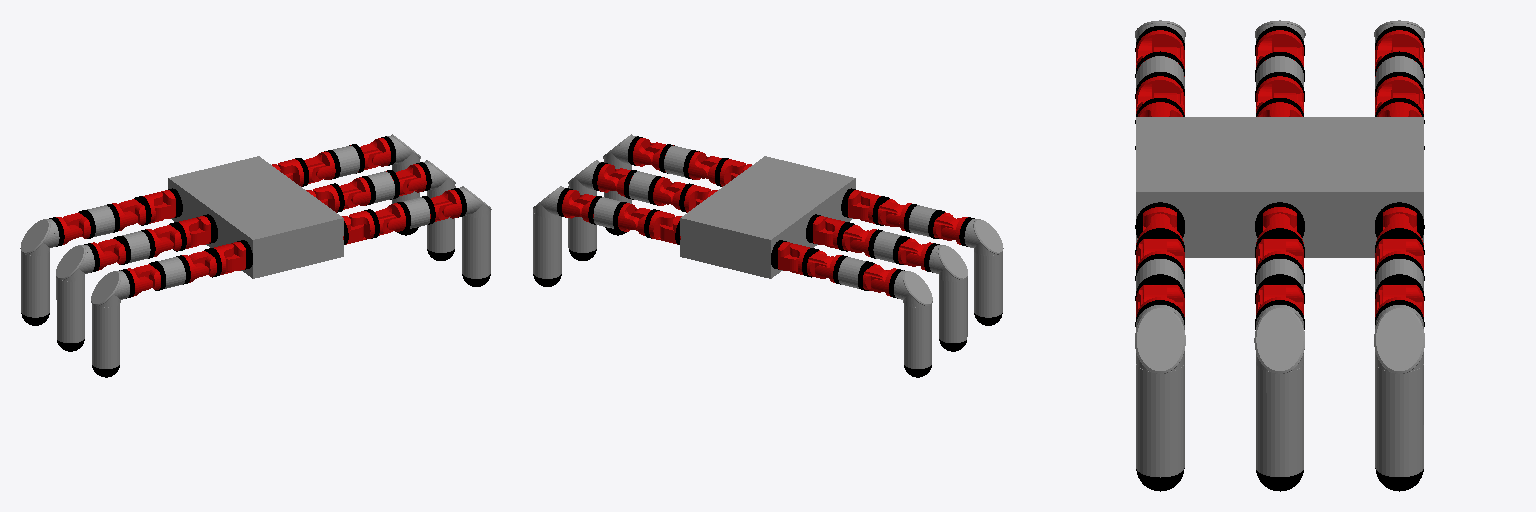
--- Facts derived from the render (not from the file) ---
The picture shows the robot from 3 angles, left to right: view 1: azimuth 30°, elevation 25°; view 2: azimuth 150°, elevation 25°; view 3: azimuth 270°, elevation 25°; orthographic projection.
Robot: snake_monster — 91 links, 90 joints (18 revolute, 72 fixed); root link base; default pose: every joint at zero.
Links seen in each view (by area): view 1: base, elbow__leg6__AFTER_CORNER_BODY, elbow__leg3__AFTER_CORNER_BODY, elbow__leg5__AFTER_CORNER_BODY, elbow__leg4__AFTER_CORNER_BODY, elbow__leg4__INPUT_INTERFACE, elbow__leg5__INPUT_INTERFACE, elbow__leg6__INPUT_INTERFACE, elbow__leg2__AFTER_CORNER_BODY, extender__leg4__INPUT_INTERFACE, extender__leg6__INPUT_INTERFACE, extender__leg5__INPUT_INTERFACE (+3 smaller); view 2: base, elbow__leg4__AFTER_CORNER_BODY, elbow__leg5__AFTER_CORNER_BODY, elbow__leg1__AFTER_CORNER_BODY, elbow__leg6__AFTER_CORNER_BODY, elbow__leg5__INPUT_INTERFACE, elbow__leg4__INPUT_INTERFACE, elbow__leg6__INPUT_INTERFACE, elbow__leg2__AFTER_CORNER_BODY, extender__leg6__INPUT_INTERFACE, extender__leg4__INPUT_INTERFACE, extender__leg5__INPUT_INTERFACE (+3 smaller); view 3: base, elbow__leg3__AFTER_CORNER_BODY, elbow__leg1__AFTER_CORNER_BODY, elbow__leg2__AFTER_CORNER_BODY, elbow__leg1__INPUT_INTERFACE, elbow__leg3__INPUT_INTERFACE, elbow__leg2__INPUT_INTERFACE, SA005__MoJo__OUTPUT_BODY, SA031__MoJo__OUTPUT_BODY, SA050__MoJo__OUTPUT_BODY, SA001__MoJo__OUTPUT_BODY, SA048__MoJo__OUTPUT_BODY (+16 smaller).
Boxes of the visible links, x1=… form: base: x1=168, y1=156, x2=343, y2=278; elbow__leg6__AFTER_CORNER_BODY: x1=21, y1=252, x2=49, y2=317; elbow__leg3__AFTER_CORNER_BODY: x1=462, y1=212, x2=490, y2=278; elbow__leg5__AFTER_CORNER_BODY: x1=56, y1=278, x2=84, y2=342; elbow__leg4__AFTER_CORNER_BODY: x1=92, y1=304, x2=119, y2=368; elbow__leg4__INPUT_INTERFACE: x1=91, y1=270, x2=129, y2=307; elbow__leg5__INPUT_INTERFACE: x1=56, y1=245, x2=94, y2=281; elbow__leg6__INPUT_INTERFACE: x1=20, y1=219, x2=59, y2=255; elbow__leg2__AFTER_CORNER_BODY: x1=427, y1=186, x2=455, y2=252; extender__leg4__INPUT_INTERFACE: x1=158, y1=257, x2=185, y2=288; extender__leg6__INPUT_INTERFACE: x1=87, y1=205, x2=114, y2=236; extender__leg5__INPUT_INTERFACE: x1=122, y1=231, x2=150, y2=262; base: x1=680, y1=156, x2=855, y2=278; elbow__leg4__AFTER_CORNER_BODY: x1=974, y1=252, x2=1002, y2=317; elbow__leg5__AFTER_CORNER_BODY: x1=939, y1=278, x2=967, y2=342; elbow__leg1__AFTER_CORNER_BODY: x1=533, y1=212, x2=561, y2=278; elbow__leg6__AFTER_CORNER_BODY: x1=904, y1=304, x2=931, y2=368; elbow__leg5__INPUT_INTERFACE: x1=929, y1=245, x2=967, y2=281; elbow__leg4__INPUT_INTERFACE: x1=964, y1=219, x2=1003, y2=255; elbow__leg6__INPUT_INTERFACE: x1=894, y1=270, x2=932, y2=307; elbow__leg2__AFTER_CORNER_BODY: x1=568, y1=186, x2=596, y2=252; extender__leg6__INPUT_INTERFACE: x1=838, y1=257, x2=865, y2=288; extender__leg4__INPUT_INTERFACE: x1=909, y1=205, x2=935, y2=236; extender__leg5__INPUT_INTERFACE: x1=873, y1=231, x2=901, y2=262; base: x1=1136, y1=117, x2=1423, y2=257; elbow__leg3__AFTER_CORNER_BODY: x1=1136, y1=363, x2=1184, y2=477; elbow__leg1__AFTER_CORNER_BODY: x1=1375, y1=364, x2=1423, y2=476; elbow__leg2__AFTER_CORNER_BODY: x1=1256, y1=365, x2=1303, y2=476; elbow__leg1__INPUT_INTERFACE: x1=1374, y1=305, x2=1424, y2=373; elbow__leg3__INPUT_INTERFACE: x1=1135, y1=305, x2=1185, y2=373; elbow__leg2__INPUT_INTERFACE: x1=1254, y1=305, x2=1304, y2=373; SA005__MoJo__OUTPUT_BODY: x1=1375, y1=76, x2=1423, y2=112; SA031__MoJo__OUTPUT_BODY: x1=1136, y1=30, x2=1184, y2=68; SA050__MoJo__OUTPUT_BODY: x1=1136, y1=76, x2=1184, y2=114; SA001__MoJo__OUTPUT_BODY: x1=1375, y1=30, x2=1423, y2=66; SA048__MoJo__OUTPUT_BODY: x1=1256, y1=30, x2=1303, y2=65.
Bounding box of the posed robot: 0.8105 × 0.3034 × 0.2095 m (x, y, z).
Meshes: 3 distinct files referenced, 42 mesh visuals loaded (3 binary STL).

URDF robot description (snake_monster):
<?xml version="1.0" ?>
<!-- =================================================================================== -->
<!-- |    This document was autogenerated by xacro from my_snake_monster.xacro         | -->
<!-- |    EDITING THIS FILE BY HAND IS NOT RECOMMENDED                                 | -->
<!-- =================================================================================== -->
<robot name="snake_monster" xmlns:xacro="http://www.ros.org/wiki/xacro">
  <!-- *************************** XACRO MACROS *************************** -->
  <!-- ************************* ROBOT DEFINITION ************************* -->
  <!--link name="kdl_dummy_root"/>
  <joint name="kdl_dummy_root_to_base" type="fixed">
    <parent link="kdl_dummy_root"/>
    <child link="base"/>
  </joint-->
  <!-- base body -->
  <link name="base">
    <visual>
      <origin rpy="0 0 0" xyz="0 0 0.0381"/>
      <geometry>
        <box size="0.185 0.3 0.0762"/>
      </geometry>
      <material name="silver">
        <color rgba="0.6 0.6 0.6 1"/>
      </material>
    </visual>
    <collision>
      <origin rpy="0 0 0" xyz="0 0 0.0381"/>
      <geometry>
        <box size="0.185 0.3 0.0762"/>
      </geometry>
    </collision>
    <inertial>
      <origin rpy="0 0 0" xyz="0 0 0.0381"/>
      <mass value="1.0"/>
      <inertia ixx="0.00798387" ixy="0" ixz="0" iyy="0.00333595333333" iyz="0" izz="0.0103520833333"/>
    </inertial>
  </link>
  <!-- leg outputs on the base -->
  <joint name="leg1__OUTPUT_INTERFACE" type="fixed">
    <parent link="base"/>
    <child link="SA014__MoJo__INPUT_INTERFACE"/>
    <origin rpy="-1.57079632679 0 -1.57079632679" xyz="0.0925 0.125 0.0381"/>
  </joint>
  <joint name="leg2__OUTPUT_INTERFACE" type="fixed">
    <parent link="base"/>
    <child link="SA037__MoJo__INPUT_INTERFACE"/>
    <origin rpy="-1.57079632679 0 -1.57079632679" xyz="0.0925 0 0.0381"/>
  </joint>
  <joint name="leg3__OUTPUT_INTERFACE" type="fixed">
    <parent link="base"/>
    <child link="SA036__MoJo__INPUT_INTERFACE"/>
    <origin rpy="-1.57079632679 0 -1.57079632679" xyz="0.0925 -0.125 0.0381"/>
  </joint>
  <joint name="leg6__OUTPUT_INTERFACE" type="fixed">
    <parent link="base"/>
    <child link="SA043__MoJo__INPUT_INTERFACE"/>
    <origin rpy="-1.57079632679 0 1.57079632679" xyz="-0.0925 0.125 0.0381"/>
  </joint>
  <joint name="leg5__OUTPUT_INTERFACE" type="fixed">
    <parent link="base"/>
    <child link="SA002__MoJo__INPUT_INTERFACE"/>
    <origin rpy="-1.57079632679 0 1.57079632679" xyz="-0.0925 0 0.0381"/>
  </joint>
  <joint name="leg4__OUTPUT_INTERFACE" type="fixed">
    <parent link="base"/>
    <child link="SA022__MoJo__INPUT_INTERFACE"/>
    <origin rpy="-1.57079632679 0 1.57079632679" xyz="-0.0925 -0.125 0.0381"/>
  </joint>
  <!-- ros_control plugin -->
  <gazebo>
    <plugin filename="libgazebo_ros_control.so" name="gazebo_ros_control">
      <robotNamespace>/snake_monster</robotNamespace>
      <!-- <robotSimType>gazebo_ros_control/DefaultRobotHWSim</robotSimType> -->
    </plugin>
  </gazebo>
  <!-- Gazebo 5 contact sensor element isn't working -->
  <!-- <gazebo reference="foot__leg1__INPUT_INTERFACE"> -->
  <!--   <sensor name="leg1_contact_sensor" type="contact"> -->
  <!-- 	<always_on>true</always_on> -->
  <!-- 	<update_rate>50</update_rate> -->
  <!-- 	<contact> -->
  <!-- 	  <collision>leg1_foot_collision</collision> -->
  <!-- 	</contact> -->
  <!-- 	<plugin name="leg1_ros_bumper_contacts" filename="libgazebo_ros_bumper.so"> -->
  <!-- 	  <robotNamespace>/snake_monster</robotNamespace> -->
  <!-- 	  <bumperTopicName>sensors/leg1_bumper</bumperTopicName> -->
  <!-- 	  <frameName>world</frameName> -->
  <!-- 	</plugin> -->
  <!--   </sensor> -->
  <!-- </gazebo> -->
  <gazebo reference="base">
    <material>Gazebo/Silver</material>
  </gazebo>
  <gazebo reference="SA014__MoJo__OUTPUT_BODY">
    <material>Gazebo/Red</material>
    <static>false</static>
    <selfCollide>true</selfCollide>
  </gazebo>
  <gazebo reference="SA014__MoJo__INPUT_INTERFACE">
    <material>Gazebo/Red</material>
    <static>false</static>
    <selfCollide>true</selfCollide>
  </gazebo>
  <gazebo reference="SA013__MoJo__OUTPUT_BODY">
    <material>Gazebo/Red</material>
    <static>false</static>
    <selfCollide>true</selfCollide>
  </gazebo>
  <gazebo reference="SA013__MoJo__INPUT_INTERFACE">
    <material>Gazebo/Red</material>
    <static>false</static>
    <selfCollide>true</selfCollide>
  </gazebo>
  <gazebo reference="SA023__MoJo__OUTPUT_BODY">
    <material>Gazebo/Red</material>
    <static>false</static>
    <selfCollide>true</selfCollide>
  </gazebo>
  <gazebo reference="SA023__MoJo__INPUT_INTERFACE">
    <material>Gazebo/Red</material>
    <static>false</static>
    <selfCollide>true</selfCollide>
  </gazebo>
  <gazebo reference="SA023__MoJo__INPUT_INTERFACE__COLLAR">
    <material>Gazebo/Black</material>
    <static>false</static>
    <selfCollide>true</selfCollide>
  </gazebo>
  <gazebo reference="elbow__leg1__INPUT_INTERFACE">
    <material>Gazebo/Silver</material>
    <static>false</static>
    <selfCollide>true</selfCollide>
  </gazebo>
  <gazebo reference="elbow__leg1__INPUT_INTERFACE__COLLAR">
    <material>Gazebo/Black</material>
    <static>false</static>
    <selfCollide>true</selfCollide>
  </gazebo>
  <gazebo reference="elbow__leg1__AFTER_CORNER_BODY">
    <material>Gazebo/Silver</material>
    <static>false</static>
    <selfCollide>true</selfCollide>
  </gazebo>
  <gazebo reference="extender__leg1__INPUT_INTERFACE">
    <material>Gazebo/Silver</material>
    <static>false</static>
    <selfCollide>true</selfCollide>
  </gazebo>
  <gazebo reference="extender__leg1__INPUT_INTERFACE__COLLAR">
    <material>Gazebo/Black</material>
    <static>false</static>
    <selfCollide>true</selfCollide>
  </gazebo>
  <gazebo reference="foot__leg1__INPUT_INTERFACE">
    <mu1>0.9</mu1>
    <mu2>0.9</mu2>
    <material>Gazebo/Black</material>
    <static>false</static>
    <selfCollide>true</selfCollide>
  </gazebo>
  <gazebo reference="SA037__MoJo__OUTPUT_BODY">
    <material>Gazebo/Red</material>
    <static>false</static>
    <selfCollide>true</selfCollide>
  </gazebo>
  <gazebo reference="SA037__MoJo__INPUT_INTERFACE">
    <material>Gazebo/Red</material>
    <static>false</static>
    <selfCollide>true</selfCollide>
  </gazebo>
  <gazebo reference="SA049__MoJo__OUTPUT_BODY">
    <material>Gazebo/Red</material>
    <static>false</static>
    <selfCollide>true</selfCollide>
  </gazebo>
  <gazebo reference="SA049__MoJo__INPUT_INTERFACE">
    <material>Gazebo/Red</material>
    <static>false</static>
    <selfCollide>true</selfCollide>
  </gazebo>
  <gazebo reference="SA030__MoJo__OUTPUT_BODY">
    <material>Gazebo/Red</material>
    <static>false</static>
    <selfCollide>true</selfCollide>
  </gazebo>
  <gazebo reference="SA030__MoJo__INPUT_INTERFACE">
    <material>Gazebo/Red</material>
    <static>false</static>
    <selfCollide>true</selfCollide>
  </gazebo>
  <gazebo reference="SA030__MoJo__INPUT_INTERFACE__COLLAR">
    <material>Gazebo/Black</material>
    <static>false</static>
    <selfCollide>true</selfCollide>
  </gazebo>
  <gazebo reference="elbow__leg2__INPUT_INTERFACE">
    <material>Gazebo/Silver</material>
    <static>false</static>
    <selfCollide>true</selfCollide>
  </gazebo>
  <gazebo reference="elbow__leg2__INPUT_INTERFACE__COLLAR">
    <material>Gazebo/Black</material>
    <static>false</static>
    <selfCollide>true</selfCollide>
  </gazebo>
  <gazebo reference="elbow__leg2__AFTER_CORNER_BODY">
    <material>Gazebo/Silver</material>
    <static>false</static>
    <selfCollide>true</selfCollide>
  </gazebo>
  <gazebo reference="extender__leg2__INPUT_INTERFACE">
    <material>Gazebo/Silver</material>
    <static>false</static>
    <selfCollide>true</selfCollide>
  </gazebo>
  <gazebo reference="extender__leg2__INPUT_INTERFACE__COLLAR">
    <material>Gazebo/Black</material>
    <static>false</static>
    <selfCollide>true</selfCollide>
  </gazebo>
  <gazebo reference="foot__leg2__INPUT_INTERFACE">
    <mu1>0.9</mu1>
    <mu2>0.9</mu2>
    <material>Gazebo/Black</material>
    <static>false</static>
    <selfCollide>true</selfCollide>
  </gazebo>
  <gazebo reference="SA036__MoJo__OUTPUT_BODY">
    <material>Gazebo/Red</material>
    <static>false</static>
    <selfCollide>true</selfCollide>
  </gazebo>
  <gazebo reference="SA036__MoJo__INPUT_INTERFACE">
    <material>Gazebo/Red</material>
    <static>false</static>
    <selfCollide>true</selfCollide>
  </gazebo>
  <gazebo reference="SA046__MoJo__OUTPUT_BODY">
    <material>Gazebo/Red</material>
    <static>false</static>
    <selfCollide>true</selfCollide>
  </gazebo>
  <gazebo reference="SA046__MoJo__INPUT_INTERFACE">
    <material>Gazebo/Red</material>
    <static>false</static>
    <selfCollide>true</selfCollide>
  </gazebo>
  <gazebo reference="SA038__MoJo__OUTPUT_BODY">
    <material>Gazebo/Red</material>
    <static>false</static>
    <selfCollide>true</selfCollide>
  </gazebo>
  <gazebo reference="SA038__MoJo__INPUT_INTERFACE">
    <material>Gazebo/Red</material>
    <static>false</static>
    <selfCollide>true</selfCollide>
  </gazebo>
  <gazebo reference="SA038__MoJo__INPUT_INTERFACE__COLLAR">
    <material>Gazebo/Black</material>
    <static>false</static>
    <selfCollide>true</selfCollide>
  </gazebo>
  <gazebo reference="elbow__leg3__INPUT_INTERFACE">
    <material>Gazebo/Silver</material>
    <static>false</static>
    <selfCollide>true</selfCollide>
  </gazebo>
  <gazebo reference="elbow__leg3__INPUT_INTERFACE__COLLAR">
    <material>Gazebo/Black</material>
    <static>false</static>
    <selfCollide>true</selfCollide>
  </gazebo>
  <gazebo reference="elbow__leg3__AFTER_CORNER_BODY">
    <material>Gazebo/Silver</material>
    <static>false</static>
    <selfCollide>true</selfCollide>
  </gazebo>
  <gazebo reference="extender__leg3__INPUT_INTERFACE">
    <material>Gazebo/Silver</material>
    <static>false</static>
    <selfCollide>true</selfCollide>
  </gazebo>
  <gazebo reference="extender__leg3__INPUT_INTERFACE__COLLAR">
    <material>Gazebo/Black</material>
    <static>false</static>
    <selfCollide>true</selfCollide>
  </gazebo>
  <gazebo reference="foot__leg3__INPUT_INTERFACE">
    <mu1>0.9</mu1>
    <mu2>0.9</mu2>
    <material>Gazebo/Black</material>
    <static>false</static>
    <selfCollide>true</selfCollide>
  </gazebo>
  <gazebo reference="SA022__MoJo__OUTPUT_BODY">
    <material>Gazebo/Red</material>
    <static>false</static>
    <selfCollide>true</selfCollide>
  </gazebo>
  <gazebo reference="SA022__MoJo__INPUT_INTERFACE">
    <material>Gazebo/Red</material>
    <static>false</static>
    <selfCollide>true</selfCollide>
  </gazebo>
  <gazebo reference="SA050__MoJo__OUTPUT_BODY">
    <material>Gazebo/Red</material>
    <static>false</static>
    <selfCollide>true</selfCollide>
  </gazebo>
  <gazebo reference="SA050__MoJo__INPUT_INTERFACE">
    <material>Gazebo/Red</material>
    <static>false</static>
    <selfCollide>true</selfCollide>
  </gazebo>
  <gazebo reference="SA031__MoJo__OUTPUT_BODY">
    <material>Gazebo/Red</material>
    <static>false</static>
    <selfCollide>true</selfCollide>
  </gazebo>
  <gazebo reference="SA031__MoJo__INPUT_INTERFACE">
    <material>Gazebo/Red</material>
    <static>false</static>
    <selfCollide>true</selfCollide>
  </gazebo>
  <gazebo reference="SA031__MoJo__INPUT_INTERFACE__COLLAR">
    <material>Gazebo/Black</material>
    <static>false</static>
    <selfCollide>true</selfCollide>
  </gazebo>
  <gazebo reference="elbow__leg4__INPUT_INTERFACE">
    <material>Gazebo/Silver</material>
    <static>false</static>
    <selfCollide>true</selfCollide>
  </gazebo>
  <gazebo reference="elbow__leg4__INPUT_INTERFACE__COLLAR">
    <material>Gazebo/Black</material>
    <static>false</static>
    <selfCollide>true</selfCollide>
  </gazebo>
  <gazebo reference="elbow__leg4__AFTER_CORNER_BODY">
    <material>Gazebo/Silver</material>
    <static>false</static>
    <selfCollide>true</selfCollide>
  </gazebo>
  <gazebo reference="extender__leg4__INPUT_INTERFACE">
    <material>Gazebo/Silver</material>
    <static>false</static>
    <selfCollide>true</selfCollide>
  </gazebo>
  <gazebo reference="extender__leg4__INPUT_INTERFACE__COLLAR">
    <material>Gazebo/Black</material>
    <static>false</static>
    <selfCollide>true</selfCollide>
  </gazebo>
  <gazebo reference="foot__leg4__INPUT_INTERFACE">
    <mu1>0.9</mu1>
    <mu2>0.9</mu2>
    <material>Gazebo/Black</material>
    <static>false</static>
    <selfCollide>true</selfCollide>
  </gazebo>
  <gazebo reference="SA002__MoJo__OUTPUT_BODY">
    <material>Gazebo/Red</material>
    <static>false</static>
    <selfCollide>true</selfCollide>
  </gazebo>
  <gazebo reference="SA002__MoJo__INPUT_INTERFACE">
    <material>Gazebo/Red</material>
    <static>false</static>
    <selfCollide>true</selfCollide>
  </gazebo>
  <gazebo reference="SA003__MoJo__OUTPUT_BODY">
    <material>Gazebo/Red</material>
    <static>false</static>
    <selfCollide>true</selfCollide>
  </gazebo>
  <gazebo reference="SA003__MoJo__INPUT_INTERFACE">
    <material>Gazebo/Red</material>
    <static>false</static>
    <selfCollide>true</selfCollide>
  </gazebo>
  <gazebo reference="SA048__MoJo__OUTPUT_BODY">
    <material>Gazebo/Red</material>
    <static>false</static>
    <selfCollide>true</selfCollide>
  </gazebo>
  <gazebo reference="SA048__MoJo__INPUT_INTERFACE">
    <material>Gazebo/Red</material>
    <static>false</static>
    <selfCollide>true</selfCollide>
  </gazebo>
  <gazebo reference="SA048__MoJo__INPUT_INTERFACE__COLLAR">
    <material>Gazebo/Black</material>
    <static>false</static>
    <selfCollide>true</selfCollide>
  </gazebo>
  <gazebo reference="elbow__leg5__INPUT_INTERFACE">
    <material>Gazebo/Silver</material>
    <static>false</static>
    <selfCollide>true</selfCollide>
  </gazebo>
  <gazebo reference="elbow__leg5__INPUT_INTERFACE__COLLAR">
    <material>Gazebo/Black</material>
    <static>false</static>
    <selfCollide>true</selfCollide>
  </gazebo>
  <gazebo reference="elbow__leg5__AFTER_CORNER_BODY">
    <material>Gazebo/Silver</material>
    <static>false</static>
    <selfCollide>true</selfCollide>
  </gazebo>
  <gazebo reference="extender__leg5__INPUT_INTERFACE">
    <material>Gazebo/Silver</material>
    <static>false</static>
    <selfCollide>true</selfCollide>
  </gazebo>
  <gazebo reference="extender__leg5__INPUT_INTERFACE__COLLAR">
    <material>Gazebo/Black</material>
    <static>false</static>
    <selfCollide>true</selfCollide>
  </gazebo>
  <gazebo reference="foot__leg5__INPUT_INTERFACE">
    <mu1>0.9</mu1>
    <mu2>0.9</mu2>
    <material>Gazebo/Black</material>
    <static>false</static>
    <selfCollide>true</selfCollide>
  </gazebo>
  <gazebo reference="SA043__MoJo__OUTPUT_BODY">
    <material>Gazebo/Red</material>
    <static>false</static>
    <selfCollide>true</selfCollide>
  </gazebo>
  <gazebo reference="SA043__MoJo__INPUT_INTERFACE">
    <material>Gazebo/Red</material>
    <static>false</static>
    <selfCollide>true</selfCollide>
  </gazebo>
  <gazebo reference="SA005__MoJo__OUTPUT_BODY">
    <material>Gazebo/Red</material>
    <static>false</static>
    <selfCollide>true</selfCollide>
  </gazebo>
  <gazebo reference="SA005__MoJo__INPUT_INTERFACE">
    <material>Gazebo/Red</material>
    <static>false</static>
    <selfCollide>true</selfCollide>
  </gazebo>
  <gazebo reference="SA001__MoJo__OUTPUT_BODY">
    <material>Gazebo/Red</material>
    <static>false</static>
    <selfCollide>true</selfCollide>
  </gazebo>
  <gazebo reference="SA001__MoJo__INPUT_INTERFACE">
    <material>Gazebo/Red</material>
    <static>false</static>
    <selfCollide>true</selfCollide>
  </gazebo>
  <gazebo reference="SA001__MoJo__INPUT_INTERFACE__COLLAR">
    <material>Gazebo/Black</material>
    <static>false</static>
    <selfCollide>true</selfCollide>
  </gazebo>
  <gazebo reference="elbow__leg6__INPUT_INTERFACE">
    <material>Gazebo/Silver</material>
    <static>false</static>
    <selfCollide>true</selfCollide>
  </gazebo>
  <gazebo reference="elbow__leg6__INPUT_INTERFACE__COLLAR">
    <material>Gazebo/Black</material>
    <static>false</static>
    <selfCollide>true</selfCollide>
  </gazebo>
  <gazebo reference="elbow__leg6__AFTER_CORNER_BODY">
    <material>Gazebo/Silver</material>
    <static>false</static>
    <selfCollide>true</selfCollide>
  </gazebo>
  <gazebo reference="extender__leg6__INPUT_INTERFACE">
    <material>Gazebo/Silver</material>
    <static>false</static>
    <selfCollide>true</selfCollide>
  </gazebo>
  <gazebo reference="extender__leg6__INPUT_INTERFACE__COLLAR">
    <material>Gazebo/Black</material>
    <static>false</static>
    <selfCollide>true</selfCollide>
  </gazebo>
  <gazebo reference="foot__leg6__INPUT_INTERFACE">
    <mu1>0.9</mu1>
    <mu2>0.9</mu2>
    <material>Gazebo/Black</material>
    <static>false</static>
    <selfCollide>true</selfCollide>
  </gazebo>
  <gazebo reference="SA014__MoJo">
    <!-- required for joint torque feedback -->
    <provideFeedback>true</provideFeedback>
  </gazebo>
  <!-- joint_torque_sensor plugin -->
  <gazebo>
    <plugin filename="libgazebo_ros_ft_sensor.so" name="SA014__MoJo_ros_ft_sensor">
      <robotNamespace>/snake_monster</robotNamespace>
      <updateRate>200.0</updateRate>
      <gaussianNoise>0.025</gaussianNoise>
      <topicName>sensors/SA014__MoJo/torque</topicName>
      <jointName>SA014__MoJo</jointName>
    </plugin>
  </gazebo>
  <!-- imu sensor plugin -->
  <!-- <gazebo> -->
  <!--   <plugin name="${mod}_ros_imu_sensor" filename="libgazebo_ros_imu.so"> -->
  <!-- 	<robotNamespace>/snake_monster</robotNamespace> -->
  <!-- 	<updateRate>200.0</updateRate> -->
  <!-- 	<gaussianNoise>0.005</gaussianNoise> -->
  <!-- 	<topicName>sensors/${mod}/imu</topicName> -->
  <!-- 	<serviceName>sensors/${mod}/imu</serviceName> -->
  <!-- 	<bodyName>${mod}__OUTPUT_BODY</bodyName> -->
  <!-- 	<xyzOffset>0 0 0</xyzOffset> -->
  <!-- 	<rpyOffset>0 0 0</rpyOffset> -->
  <!--   </plugin> -->
  <!-- </gazebo> -->
  <gazebo reference="SA013__MoJo">
    <!-- required for joint torque feedback -->
    <provideFeedback>true</provideFeedback>
  </gazebo>
  <!-- joint_torque_sensor plugin -->
  <gazebo>
    <plugin filename="libgazebo_ros_ft_sensor.so" name="SA013__MoJo_ros_ft_sensor">
      <robotNamespace>/snake_monster</robotNamespace>
      <updateRate>200.0</updateRate>
      <gaussianNoise>0.025</gaussianNoise>
      <topicName>sensors/SA013__MoJo/torque</topicName>
      <jointName>SA013__MoJo</jointName>
    </plugin>
  </gazebo>
  <!-- imu sensor plugin -->
  <!-- <gazebo> -->
  <!--   <plugin name="${mod}_ros_imu_sensor" filename="libgazebo_ros_imu.so"> -->
  <!-- 	<robotNamespace>/snake_monster</robotNamespace> -->
  <!-- 	<updateRate>200.0</updateRate> -->
  <!-- 	<gaussianNoise>0.005</gaussianNoise> -->
  <!-- 	<topicName>sensors/${mod}/imu</topicName> -->
  <!-- 	<serviceName>sensors/${mod}/imu</serviceName> -->
  <!-- 	<bodyName>${mod}__OUTPUT_BODY</bodyName> -->
  <!-- 	<xyzOffset>0 0 0</xyzOffset> -->
  <!-- 	<rpyOffset>0 0 0</rpyOffset> -->
  <!--   </plugin> -->
  <!-- </gazebo> -->
  <gazebo reference="SA023__MoJo">
    <!-- required for joint torque feedback -->
    <provideFeedback>true</provideFeedback>
  </gazebo>
  <!-- joint_torque_sensor plugin -->
  <gazebo>
    <plugin filename="libgazebo_ros_ft_sensor.so" name="SA023__MoJo_ros_ft_sensor">
      <robotNamespace>/snake_monster</robotNamespace>
      <updateRate>200.0</updateRate>
      <gaussianNoise>0.025</gaussianNoise>
      <topicName>sensors/SA023__MoJo/torque</topicName>
      <jointName>SA023__MoJo</jointName>
    </plugin>
  </gazebo>
  <!-- imu sensor plugin -->
  <!-- <gazebo> -->
  <!--   <plugin name="${mod}_ros_imu_sensor" filename="libgazebo_ros_imu.so"> -->
  <!-- 	<robotNamespace>/snake_monster</robotNamespace> -->
  <!-- 	<updateRate>200.0</updateRate> -->
  <!-- 	<gaussianNoise>0.005</gaussianNoise> -->
  <!-- 	<topicName>sensors/${mod}/imu</topicName> -->
  <!-- 	<serviceName>sensors/${mod}/imu</serviceName> -->
  <!-- 	<bodyName>${mod}__OUTPUT_BODY</bodyName> -->
  <!-- 	<xyzOffset>0 0 0</xyzOffset> -->
  <!-- 	<rpyOffset>0 0 0</rpyOffset> -->
  <!--   </plugin> -->
  <!-- </gazebo> -->
  <gazebo reference="SA037__MoJo">
    <!-- required for joint torque feedback -->
    <provideFeedback>true</provideFeedback>
  </gazebo>
  <!-- joint_torque_sensor plugin -->
  <gazebo>
    <plugin filename="libgazebo_ros_ft_sensor.so" name="SA037__MoJo_ros_ft_sensor">
      <robotNamespace>/snake_monster</robotNamespace>
      <updateRate>200.0</updateRate>
      <gaussianNoise>0.025</gaussianNoise>
      <topicName>sensors/SA037__MoJo/torque</topicName>
      <jointName>SA037__MoJo</jointName>
    </plugin>
  </gazebo>
  <!-- imu sensor plugin -->
  <!-- <gazebo> -->
  <!--   <plugin name="${mod}_ros_imu_sensor" filename="libgazebo_ros_imu.so"> -->
  <!-- 	<robotNamespace>/snake_monster</robotNamespace> -->
  <!-- 	<updateRate>200.0</updateRate> -->
  <!-- 	<gaussianNoise>0.005</gaussianNoise> -->
  <!-- 	<topicName>sensors/${mod}/imu</topicName> -->
  <!-- 	<serviceName>sensors/${mod}/imu</serviceName> -->
  <!-- 	<bodyName>${mod}__OUTPUT_BODY</bodyName> -->
  <!-- 	<xyzOffset>0 0 0</xyzOffset> -->
  <!-- 	<rpyOffset>0 0 0</rpyOffset> -->
  <!--   </plugin> -->
  <!-- </gazebo> -->
  <gazebo reference="SA049__MoJo">
    <!-- required for joint torque feedback -->
    <provideFeedback>true</provideFeedback>
  </gazebo>
  <!-- joint_torque_sensor plugin -->
  <gazebo>
    <plugin filename="libgazebo_ros_ft_sensor.so" name="SA049__MoJo_ros_ft_sensor">
      <robotNamespace>/snake_monster</robotNamespace>
      <updateRate>200.0</updateRate>
      <gaussianNoise>0.025</gaussianNoise>
      <topicName>sensors/SA049__MoJo/torque</topicName>
      <jointName>SA049__MoJo</jointName>
    </plugin>
  </gazebo>
  <!-- imu sensor plugin -->
  <!-- <gazebo> -->
  <!--   <plugin name="${mod}_ros_imu_sensor" filename="libgazebo_ros_imu.so"> -->
  <!-- 	<robotNamespace>/snake_monster</robotNamespace> -->
  <!-- 	<updateRate>200.0</updateRate> -->
  <!-- 	<gaussianNoise>0.005</gaussianNoise> -->
  <!-- 	<topicName>sensors/${mod}/imu</topicName> -->
  <!-- 	<serviceName>sensors/${mod}/imu</serviceName> -->
  <!-- 	<bodyName>${mod}__OUTPUT_BODY</bodyName> -->
  <!-- 	<xyzOffset>0 0 0</xyzOffset> -->
  <!-- 	<rpyOffset>0 0 0</rpyOffset> -->
  <!--   </plugin> -->
  <!-- </gazebo> -->
  <gazebo reference="SA030__MoJo">
    <!-- required for joint torque feedback -->
    <provideFeedback>true</provideFeedback>
  </gazebo>
  <!-- joint_torque_sensor plugin -->
  <gazebo>
    <plugin filename="libgazebo_ros_ft_sensor.so" name="SA030__MoJo_ros_ft_sensor">
      <robotNamespace>/snake_monster</robotNamespace>
      <updateRate>200.0</updateRate>
      <gaussianNoise>0.025</gaussianNoise>
      <topicName>sensors/SA030__MoJo/torque</topicName>
      <jointName>SA030__MoJo</jointName>
    </plugin>
  </gazebo>
  <!-- imu sensor plugin -->
  <!-- <gazebo> -->
  <!--   <plugin name="${mod}_ros_imu_sensor" filename="libgazebo_ros_imu.so"> -->
  <!-- 	<robotNamespace>/snake_monster</robotNamespace> -->
  <!-- 	<updateRate>200.0</updateRate> -->
  <!-- 	<gaussianNoise>0.005</gaussianNoise> -->
  <!-- 	<topicName>sensors/${mod}/imu</topicName> -->
  <!-- 	<serviceName>sensors/${mod}/imu</serviceName> -->
  <!-- 	<bodyName>${mod}__OUTPUT_BODY</bodyName> -->
  <!-- 	<xyzOffset>0 0 0</xyzOffset> -->
  <!-- 	<rpyOffset>0 0 0</rpyOffset> -->
  <!--   </plugin> -->
  <!-- </gazebo> -->
  <gazebo reference="SA036__MoJo">
    <!-- required for joint torque feedback -->
    <provideFeedback>true</provideFeedback>
  </gazebo>
  <!-- joint_torque_sensor plugin -->
  <gazebo>
    <plugin filename="libgazebo_ros_ft_sensor.so" name="SA036__MoJo_ros_ft_sensor">
      <robotNamespace>/snake_monster</robotNamespace>
      <updateRate>200.0</updateRate>
      <gaussianNoise>0.025</gaussianNoise>
      <topicName>sensors/SA036__MoJo/torque</topicName>
      <jointName>SA036__MoJo</jointName>
    </plugin>
  </gazebo>
  <!-- imu sensor plugin -->
  <!-- <gazebo> -->
  <!--   <plugin name="${mod}_ros_imu_sensor" filename="libgazebo_ros_imu.so"> -->
  <!-- 	<robotNamespace>/snake_monster</robotNamespace> -->
  <!-- 	<updateRate>200.0</updateRate> -->
  <!-- 	<gaussianNoise>0.005</gaussianNoise> -->
  <!-- 	<topicName>sensors/${mod}/imu</topicName> -->
  <!-- 	<serviceName>sensors/${mod}/imu</serviceName> -->
  <!-- 	<bodyName>${mod}__OUTPUT_BODY</bodyName> -->
  <!-- 	<xyzOffset>0 0 0</xyzOffset> -->
  <!-- 	<rpyOffset>0 0 0</rpyOffset> -->
  <!--   </plugin> -->
  <!-- </gazebo> -->
  <gazebo reference="SA046__MoJo">
    <!-- required for joint torque feedback -->
    <provideFeedback>true</provideFeedback>
  </gazebo>
  <!-- joint_torque_sensor plugin -->
  <gazebo>
    <plugin filename="libgazebo_ros_ft_sensor.so" name="SA046__MoJo_ros_ft_sensor">
      <robotNamespace>/snake_monster</robotNamespace>
      <updateRate>200.0</updateRate>
      <gaussianNoise>0.025</gaussianNoise>
      <topicName>sensors/SA046__MoJo/torque</topicName>
      <jointName>SA046__MoJo</jointName>
    </plugin>
  </gazebo>
  <!-- imu sensor plugin -->
  <!-- <gazebo> -->
  <!--   <plugin name="${mod}_ros_imu_sensor" filename="libgazebo_ros_imu.so"> -->
  <!-- 	<robotNamespace>/snake_monster</robotNamespace> -->
  <!-- 	<updateRate>200.0</updateRate> -->
  <!-- 	<gaussianNoise>0.005</gaussianNoise> -->
  <!-- 	<topicName>sensors/${mod}/imu</topicName> -->
  <!-- 	<serviceName>sensors/${mod}/imu</serviceName> -->
  <!-- 	<bodyName>${mod}__OUTPUT_BODY</bodyName> -->
  <!-- 	<xyzOffset>0 0 0</xyzOffset> -->
  <!-- 	<rpyOffset>0 0 0</rpyOffset> -->
  <!--   </plugin> -->
  <!-- </gazebo> -->
  <gazebo reference="SA038__MoJo">
    <!-- required for joint torque feedback -->
    <provideFeedback>true</provideFeedback>
  </gazebo>
  <!-- joint_torque_sensor plugin -->
  <gazebo>
    <plugin filename="libgazebo_ros_ft_sensor.so" name="SA038__MoJo_ros_ft_sensor">
      <robotNamespace>/snake_monster</robotNamespace>
      <updateRate>200.0</updateRate>
      <gaussianNoise>0.025</gaussianNoise>
      <topicName>sensors/SA038__MoJo/torque</topicName>
      <jointName>SA038__MoJo</jointName>
    </plugin>
  </gazebo>
  <!-- imu sensor plugin -->
  <!-- <gazebo> -->
  <!--   <plugin name="${mod}_ros_imu_sensor" filename="libgazebo_ros_imu.so"> -->
  <!-- 	<robotNamespace>/snake_monster</robotNamespace> -->
  <!-- 	<updateRate>200.0</updateRate> -->
  <!-- 	<gaussianNoise>0.005</gaussianNoise> -->
  <!-- 	<topicName>sensors/${mod}/imu</topicName> -->
  <!-- 	<serviceName>sensors/${mod}/imu</serviceName> -->
  <!-- 	<bodyName>${mod}__OUTPUT_BODY</bodyName> -->
  <!-- 	<xyzOffset>0 0 0</xyzOffset> -->
  <!-- 	<rpyOffset>0 0 0</rpyOffset> -->
  <!--   </plugin> -->
  <!-- </gazebo> -->
  <gazebo reference="SA022__MoJo">
    <!-- required for joint torque feedback -->
    <provideFeedback>true</provideFeedback>
  </gazebo>
  <!-- joint_torque_sensor plugin -->
  <gazebo>
    <plugin filename="libgazebo_ros_ft_sensor.so" name="SA022__MoJo_ros_ft_sensor">
      <robotNamespace>/snake_monster</robotNamespace>
      <updateRate>200.0</updateRate>
      <gaussianNoise>0.025</gaussianNoise>
      <topicName>sensors/SA022__MoJo/torque</topicName>
      <jointName>SA022__MoJo</jointName>
    </plugin>
  </gazebo>
  <!-- imu sensor plugin -->
  <!-- <gazebo> -->
  <!--   <plugin name="${mod}_ros_imu_sensor" filename="libgazebo_ros_imu.so"> -->
  <!-- 	<robotNamespace>/snake_monster</robotNamespace> -->
  <!-- 	<updateRate>200.0</updateRate> -->
  <!-- 	<gaussianNoise>0.005</gaussianNoise> -->
  <!-- 	<topicName>sensors/${mod}/imu</topicName> -->
  <!-- 	<serviceName>sensors/${mod}/imu</serviceName> -->
  <!-- 	<bodyName>${mod}__OUTPUT_BODY</bodyName> -->
  <!-- 	<xyzOffset>0 0 0</xyzOffset> -->
  <!-- 	<rpyOffset>0 0 0</rpyOffset> -->
  <!--   </plugin> -->
  <!-- </gazebo> -->
  <gazebo reference="SA050__MoJo">
    <!-- required for joint torque feedback -->
    <provideFeedback>true</provideFeedback>
  </gazebo>
  <!-- joint_torque_sensor plugin -->
  <gazebo>
    <plugin filename="libgazebo_ros_ft_sensor.so" name="SA050__MoJo_ros_ft_sensor">
      <robotNamespace>/snake_monster</robotNamespace>
      <updateRate>200.0</updateRate>
      <gaussianNoise>0.025</gaussianNoise>
      <topicName>sensors/SA050__MoJo/torque</topicName>
      <jointName>SA050__MoJo</jointName>
    </plugin>
  </gazebo>
  <!-- imu sensor plugin -->
  <!-- <gazebo> -->
  <!--   <plugin name="${mod}_ros_imu_sensor" filename="libgazebo_ros_imu.so"> -->
  <!-- 	<robotNamespace>/snake_monster</robotNamespace> -->
  <!-- 	<updateRate>200.0</updateRate> -->
  <!-- 	<gaussianNoise>0.005</gaussianNoise> -->
  <!-- 	<topicName>sensors/${mod}/imu</topicName> -->
  <!-- 	<serviceName>sensors/${mod}/imu</serviceName> -->
  <!-- 	<bodyName>${mod}__OUTPUT_BODY</bodyName> -->
  <!-- 	<xyzOffset>0 0 0</xyzOffset> -->
  <!-- 	<rpyOffset>0 0 0</rpyOffset> -->
  <!--   </plugin> -->
  <!-- </gazebo> -->
  <gazebo reference="SA031__MoJo">
    <!-- required for joint torque feedback -->
    <provideFeedback>true</provideFeedback>
  </gazebo>
  <!-- joint_torque_sensor plugin -->
  <gazebo>
    <plugin filename="libgazebo_ros_ft_sensor.so" name="SA031__MoJo_ros_ft_sensor">
      <robotNamespace>/snake_monster</robotNamespace>
      <updateRate>200.0</updateRate>
      <gaussianNoise>0.025</gaussianNoise>
      <topicName>sensors/SA031__MoJo/torque</topicName>
      <jointName>SA031__MoJo</jointName>
    </plugin>
  </gazebo>
  <!-- imu sensor plugin -->
  <!-- <gazebo> -->
  <!--   <plugin name="${mod}_ros_imu_sensor" filename="libgazebo_ros_imu.so"> -->
  <!-- 	<robotNamespace>/snake_monster</robotNamespace> -->
  <!-- 	<updateRate>200.0</updateRate> -->
  <!-- 	<gaussianNoise>0.005</gaussianNoise> -->
  <!-- 	<topicName>sensors/${mod}/imu</topicName> -->
  <!-- 	<serviceName>sensors/${mod}/imu</serviceName> -->
  <!-- 	<bodyName>${mod}__OUTPUT_BODY</bodyName> -->
  <!-- 	<xyzOffset>0 0 0</xyzOffset> -->
  <!-- 	<rpyOffset>0 0 0</rpyOffset> -->
  <!--   </plugin> -->
  <!-- </gazebo> -->
  <gazebo reference="SA002__MoJo">
    <!-- required for joint torque feedback -->
    <provideFeedback>true</provideFeedback>
  </gazebo>
  <!-- joint_torque_sensor plugin -->
  <gazebo>
    <plugin filename="libgazebo_ros_ft_sensor.so" name="SA002__MoJo_ros_ft_sensor">
      <robotNamespace>/snake_monster</robotNamespace>
      <updateRate>200.0</updateRate>
      <gaussianNoise>0.025</gaussianNoise>
      <topicName>sensors/SA002__MoJo/torque</topicName>
      <jointName>SA002__MoJo</jointName>
    </plugin>
  </gazebo>
  <!-- imu sensor plugin -->
  <!-- <gazebo> -->
  <!--   <plugin name="${mod}_ros_imu_sensor" filename="libgazebo_ros_imu.so"> -->
  <!-- 	<robotNamespace>/snake_monster</robotNamespace> -->
  <!-- 	<updateRate>200.0</updateRate> -->
  <!-- 	<gaussianNoise>0.005</gaussianNoise> -->
  <!-- 	<topicName>sensors/${mod}/imu</topicName> -->
  <!-- 	<serviceName>sensors/${mod}/imu</serviceName> -->
  <!-- 	<bodyName>${mod}__OUTPUT_BODY</bodyName> -->
  <!-- 	<xyzOffset>0 0 0</xyzOffset> -->
  <!-- 	<rpyOffset>0 0 0</rpyOffset> -->
  <!--   </plugin> -->
  <!-- </gazebo> -->
  <gazebo reference="SA003__MoJo">
    <!-- required for joint torque feedback -->
    <provideFeedback>true</provideFeedback>
  </gazebo>
  <!-- joint_torque_sensor plugin -->
  <gazebo>
    <plugin filename="libgazebo_ros_ft_sensor.so" name="SA003__MoJo_ros_ft_sensor">
      <robotNamespace>/snake_monster</robotNamespace>
      <updateRate>200.0</updateRate>
      <gaussianNoise>0.025</gaussianNoise>
      <topicName>sensors/SA003__MoJo/torque</topicName>
      <jointName>SA003__MoJo</jointName>
    </plugin>
  </gazebo>
  <!-- imu sensor plugin -->
  <!-- <gazebo> -->
  <!--   <plugin name="${mod}_ros_imu_sensor" filename="libgazebo_ros_imu.so"> -->
  <!-- 	<robotNamespace>/snake_monster</robotNamespace> -->
  <!-- 	<updateRate>200.0</updateRate> -->
  <!-- 	<gaussianNoise>0.005</gaussianNoise> -->
  <!-- 	<topicName>sensors/${mod}/imu</topicName> -->
  <!-- 	<serviceName>sensors/${mod}/imu</serviceName> -->
  <!-- 	<bodyName>${mod}__OUTPUT_BODY</bodyName> -->
  <!-- 	<xyzOffset>0 0 0</xyzOffset> -->
  <!-- 	<rpyOffset>0 0 0</rpyOffset> -->
  <!--   </plugin> -->
  <!-- </gazebo> -->
  <gazebo reference="SA048__MoJo">
    <!-- required for joint torque feedback -->
    <provideFeedback>true</provideFeedback>
  </gazebo>
  <!-- joint_torque_sensor plugin -->
  <gazebo>
    <plugin filename="libgazebo_ros_ft_sensor.so" name="SA048__MoJo_ros_ft_sensor">
      <robotNamespace>/snake_monster</robotNamespace>
      <updateRate>200.0</updateRate>
      <gaussianNoise>0.025</gaussianNoise>
      <topicName>sensors/SA048__MoJo/torque</topicName>
      <jointName>SA048__MoJo</jointName>
    </plugin>
  </gazebo>
  <!-- imu sensor plugin -->
  <!-- <gazebo> -->
  <!--   <plugin name="${mod}_ros_imu_sensor" filename="libgazebo_ros_imu.so"> -->
  <!-- 	<robotNamespace>/snake_monster</robotNamespace> -->
  <!-- 	<updateRate>200.0</updateRate> -->
  <!-- 	<gaussianNoise>0.005</gaussianNoise> -->
  <!-- 	<topicName>sensors/${mod}/imu</topicName> -->
  <!-- 	<serviceName>sensors/${mod}/imu</serviceName> -->
  <!-- 	<bodyName>${mod}__OUTPUT_BODY</bodyName> -->
  <!-- 	<xyzOffset>0 0 0</xyzOffset> -->
  <!-- 	<rpyOffset>0 0 0</rpyOffset> -->
  <!--   </plugin> -->
  <!-- </gazebo> -->
  <gazebo reference="SA043__MoJo">
    <!-- required for joint torque feedback -->
    <provideFeedback>true</provideFeedback>
  </gazebo>
  <!-- joint_torque_sensor plugin -->
  <gazebo>
    <plugin filename="libgazebo_ros_ft_sensor.so" name="SA043__MoJo_ros_ft_sensor">
      <robotNamespace>/snake_monster</robotNamespace>
      <updateRate>200.0</updateRate>
      <gaussianNoise>0.025</gaussianNoise>
      <topicName>sensors/SA043__MoJo/torque</topicName>
      <jointName>SA043__MoJo</jointName>
    </plugin>
  </gazebo>
  <!-- imu sensor plugin -->
  <!-- <gazebo> -->
  <!--   <plugin name="${mod}_ros_imu_sensor" filename="libgazebo_ros_imu.so"> -->
  <!-- 	<robotNamespace>/snake_monster</robotNamespace> -->
  <!-- 	<updateRate>200.0</updateRate> -->
  <!-- 	<gaussianNoise>0.005</gaussianNoise> -->
  <!-- 	<topicName>sensors/${mod}/imu</topicName> -->
  <!-- 	<serviceName>sensors/${mod}/imu</serviceName> -->
  <!-- 	<bodyName>${mod}__OUTPUT_BODY</bodyName> -->
  <!-- 	<xyzOffset>0 0 0</xyzOffset> -->
  <!-- 	<rpyOffset>0 0 0</rpyOffset> -->
  <!--   </plugin> -->
  <!-- </gazebo> -->
  <gazebo reference="SA005__MoJo">
    <!-- required for joint torque feedback -->
    <provideFeedback>true</provideFeedback>
  </gazebo>
  <!-- joint_torque_sensor plugin -->
  <gazebo>
    <plugin filename="libgazebo_ros_ft_sensor.so" name="SA005__MoJo_ros_ft_sensor">
      <robotNamespace>/snake_monster</robotNamespace>
      <updateRate>200.0</updateRate>
      <gaussianNoise>0.025</gaussianNoise>
      <topicName>sensors/SA005__MoJo/torque</topicName>
      <jointName>SA005__MoJo</jointName>
    </plugin>
  </gazebo>
  <!-- imu sensor plugin -->
  <!-- <gazebo> -->
  <!--   <plugin name="${mod}_ros_imu_sensor" filename="libgazebo_ros_imu.so"> -->
  <!-- 	<robotNamespace>/snake_monster</robotNamespace> -->
  <!-- 	<updateRate>200.0</updateRate> -->
  <!-- 	<gaussianNoise>0.005</gaussianNoise> -->
  <!-- 	<topicName>sensors/${mod}/imu</topicName> -->
  <!-- 	<serviceName>sensors/${mod}/imu</serviceName> -->
  <!-- 	<bodyName>${mod}__OUTPUT_BODY</bodyName> -->
  <!-- 	<xyzOffset>0 0 0</xyzOffset> -->
  <!-- 	<rpyOffset>0 0 0</rpyOffset> -->
  <!--   </plugin> -->
  <!-- </gazebo> -->
  <gazebo reference="SA001__MoJo">
    <!-- required for joint torque feedback -->
    <provideFeedback>true</provideFeedback>
  </gazebo>
  <!-- joint_torque_sensor plugin -->
  <gazebo>
    <plugin filename="libgazebo_ros_ft_sensor.so" name="SA001__MoJo_ros_ft_sensor">
      <robotNamespace>/snake_monster</robotNamespace>
      <updateRate>200.0</updateRate>
      <gaussianNoise>0.025</gaussianNoise>
      <topicName>sensors/SA001__MoJo/torque</topicName>
      <jointName>SA001__MoJo</jointName>
    </plugin>
  </gazebo>
  <!-- imu sensor plugin -->
  <!-- <gazebo> -->
  <!--   <plugin name="${mod}_ros_imu_sensor" filename="libgazebo_ros_imu.so"> -->
  <!-- 	<robotNamespace>/snake_monster</robotNamespace> -->
  <!-- 	<updateRate>200.0</updateRate> -->
  <!-- 	<gaussianNoise>0.005</gaussianNoise> -->
  <!-- 	<topicName>sensors/${mod}/imu</topicName> -->
  <!-- 	<serviceName>sensors/${mod}/imu</serviceName> -->
  <!-- 	<bodyName>${mod}__OUTPUT_BODY</bodyName> -->
  <!-- 	<xyzOffset>0 0 0</xyzOffset> -->
  <!-- 	<rpyOffset>0 0 0</rpyOffset> -->
  <!--   </plugin> -->
  <!-- </gazebo> -->
  <link name="SA014__MoJo__INPUT_INTERFACE">
    <visual>
      <origin rpy="1.57075 0 0" xyz="0 0 0.035"/>
      <geometry>
        <mesh filename="meshes/rotary_input.stl"/>
      </geometry>
      <material name="red">
        <color rgba=".82 0.06 0.06 1"/>
      </material>
    </visual>
    <collision>
      <origin rpy="0 0 0" xyz="0 0 0.0183"/>
      <geometry>
        <cylinder length="0.033" radius="0.026"/>
      </geometry>
    </collision>
    <inertial>
      <origin rpy="0 0 0" xyz="0 0 0.0366"/>
      <mass value="0.103"/>
      <inertia ixx="5.4796e-05" ixy="0" ixz="0" iyy="5.4796e-05" iyz="0" izz="3.4814e-05"/>
    </inertial>
  </link>
  <link name="SA014__MoJo__INPUT_INTERFACE__COLLAR">
    <visual>
      <origin rpy="0 0 0" xyz="0 0 0.005"/>
      <geometry>
        <cylinder length="0.01" radius="0.026"/>
      </geometry>
      <material name="black">
        <color rgba="0 0 0 1"/>
      </material>
    </visual>
    <inertial>
      <origin rpy="0 0 0" xyz="0 0 0"/>
      <mass value="0"/>
      <inertia ixx="0.0" ixy="0.0" ixz="0.0" iyy="0.0" iyz="0.0" izz="0.0"/>
    </inertial>
  </link> <!-- in pybullet, the inertia need to be specified even for dummy links, otherwise it will put an identity inertia and a mass of 1 by default -->
  <joint name="SA014__MoJo__INPUT_INTERFACE__COLLAR_JOINT" type="fixed">
    <parent link="SA014__MoJo__INPUT_INTERFACE"/>
    <child link="SA014__MoJo__INPUT_INTERFACE__COLLAR"/>
  </joint>
  <joint name="SA014__MoJo" type="revolute">
    <parent link="SA014__MoJo__INPUT_INTERFACE"/>
    <child link="SA014__MoJo__OUTPUT_BODY"/>
    <origin rpy="0 0 0" xyz="0 0 0.0366"/>
    <axis xyz="0 1 0"/>
    <dynamics damping=".1" friction="0.2"/>
    <limit effort="7.0" lower="-1.57" upper="1.57" velocity="2.208932"/>
  </joint>
  <transmission name="SA014__MoJo_trans">
    <type>transmission_interface/SimpleTransmission</type>
    <joint name="SA014__MoJo">
      <hardwareInterface>EffortJointInterface</hardwareInterface>
    </joint>
    <actuator name="SA014__MoJo_motor">
      <hardwareInterface>EffortJointInterface</hardwareInterface>
      <mechanicalReduction>300</mechanicalReduction>
    </actuator>
  </transmission>
  <link name="SA014__MoJo__OUTPUT_BODY">
    <visual>
      <origin rpy="1.57075 0 0" xyz="0 0 0"/>
      <geometry>
        <mesh filename="meshes/rotary_output.stl"/>
        <!-- <cylinder radius=".0025" length=".1" /> -->
      </geometry>
      <material name="red">
        <color rgba=".82 0.06 0.06 1"/>
      </material>
    </visual>
    <collision>
      <origin rpy="0 0 0" xyz="0 0 0.0183"/>
      <geometry>
        <cylinder length="0.033" radius="0.026"/>
      </geometry>
    </collision>
    <inertial>
      <origin rpy="0 0 0" xyz="0 0 0"/>
      <mass value="0.103"/>
      <inertia ixx="5.4796e-05" ixy="0" ixz="0" iyy="5.4796e-05" iyz="0" izz="3.4814e-05"/>
    </inertial>
  </link>
  <joint name="SA014__MoJo__OUTPUT_INTERFACE" type="fixed">
    <parent link="SA014__MoJo__OUTPUT_BODY"/>
    <child link="SA013__MoJo__INPUT_INTERFACE"/>
    <origin rpy="0 0 -1.57075" xyz="0 0 0.0273"/>
  </joint>
  <link name="SA013__MoJo__INPUT_INTERFACE">
    <visual>
      <origin rpy="1.57075 0 0" xyz="0 0 0.035"/>
      <geometry>
        <mesh filename="meshes/rotary_input.stl"/>
      </geometry>
      <material name="red">
        <color rgba=".82 0.06 0.06 1"/>
      </material>
    </visual>
    <collision>
      <origin rpy="0 0 0" xyz="0 0 0.0183"/>
      <geometry>
        <cylinder length="0.033" radius="0.026"/>
      </geometry>
    </collision>
    <inertial>
      <origin rpy="0 0 0" xyz="0 0 0.0366"/>
      <mass value="0.103"/>
      <inertia ixx="5.4796e-05" ixy="0" ixz="0" iyy="5.4796e-05" iyz="0" izz="3.4814e-05"/>
    </inertial>
  </link>
  <link name="SA013__MoJo__INPUT_INTERFACE__COLLAR">
    <visual>
      <origin rpy="0 0 0" xyz="0 0 0.005"/>
      <geometry>
        <cylinder length="0.01" radius="0.026"/>
      </geometry>
      <material name="black">
        <color rgba="0 0 0 1"/>
      </material>
    </visual>
    <inertial>
      <origin rpy="0 0 0" xyz="0 0 0"/>
      <mass value="0"/>
      <inertia ixx="0.0" ixy="0.0" ixz="0.0" iyy="0.0" iyz="0.0" izz="0.0"/>
    </inertial>
  </link> <!-- in pybullet, the inertia need to be specified even for dummy links, otherwise it will put an identity inertia and a mass of 1 by default -->
  <joint name="SA013__MoJo__INPUT_INTERFACE__COLLAR_JOINT" type="fixed">
    <parent link="SA013__MoJo__INPUT_INTERFACE"/>
    <child link="SA013__MoJo__INPUT_INTERFACE__COLLAR"/>
  </joint>
  <joint name="SA013__MoJo" type="revolute">
    <parent link="SA013__MoJo__INPUT_INTERFACE"/>
    <child link="SA013__MoJo__OUTPUT_BODY"/>
    <origin rpy="0 0 0" xyz="0 0 0.0366"/>
    <axis xyz="0 1 0"/>
    <dynamics damping=".1" friction="0.2"/>
    <limit effort="7.0" lower="-1.57" upper="1.57" velocity="2.208932"/>
  </joint>
  <transmission name="SA013__MoJo_trans">
    <type>transmission_interface/SimpleTransmission</type>
    <joint name="SA013__MoJo">
      <hardwareInterface>EffortJointInterface</hardwareInterface>
    </joint>
    <actuator name="SA013__MoJo_motor">
      <hardwareInterface>EffortJointInterface</hardwareInterface>
      <mechanicalReduction>300</mechanicalReduction>
    </actuator>
  </transmission>
  <link name="SA013__MoJo__OUTPUT_BODY">
    <visual>
      <origin rpy="1.57075 0 0" xyz="0 0 0"/>
      <geometry>
        <mesh filename="meshes/rotary_output.stl"/>
        <!-- <cylinder radius=".0025" length=".1" /> -->
      </geometry>
      <material name="red">
        <color rgba=".82 0.06 0.06 1"/>
      </material>
    </visual>
    <collision>
      <origin rpy="0 0 0" xyz="0 0 0.0183"/>
      <geometry>
        <cylinder length="0.033" radius="0.026"/>
      </geometry>
    </collision>
    <inertial>
      <origin rpy="0 0 0" xyz="0 0 0"/>
      <mass value="0.103"/>
      <inertia ixx="5.4796e-05" ixy="0" ixz="0" iyy="5.4796e-05" iyz="0" izz="3.4814e-05"/>
    </inertial>
  </link>
  <joint name="SA013__MoJo__OUTPUT_INTERFACE" type="fixed">
    <parent link="SA013__MoJo__OUTPUT_BODY"/>
    <child link="extender__leg1__INPUT_INTERFACE"/>
    <origin rpy="0 0 -1.57075" xyz="0 0 0.0273"/>
  </joint>
  <link name="extender__leg1__INPUT_INTERFACE">
    <visual>
      <origin rpy="0 0 0" xyz="0 0 0.025"/>
      <geometry>
        <cylinder length="0.05" radius=".0254"/>
      </geometry>
      <material name="silver">
        <color rgba="0.6 0.6 0.6 1"/>
      </material>
    </visual>
    <collision>
      <origin rpy="0 0 0" xyz="0 0 0.025"/>
      <geometry>
        <cylinder length="0.05" radius=".0254"/>
      </geometry>
    </collision>
    <inertial>
      <origin rpy="0 0 0" xyz="0 0 0.025"/>
      <mass value=".05"/>
      <inertia ixx="2.50134116667e-05" ixy="0" ixz="0" iyy="2.50134116667e-05" iyz="0" izz="2.919349e-05"/>
    </inertial>
  </link>
  <joint name="extender__leg1__OUTPUT_INTERFACE" type="fixed">
    <parent link="extender__leg1__INPUT_INTERFACE"/>
    <child link="SA023__MoJo__INPUT_INTERFACE"/>
    <origin rpy="0 0 1.57079632679" xyz="0 0 0.05"/>
  </joint>
  <link name="extender__leg1__INPUT_INTERFACE__COLLAR">
    <visual>
      <origin rpy="0 0 0" xyz="0 0 0.005"/>
      <geometry>
        <cylinder length="0.01" radius="0.026"/>
      </geometry>
      <material name="black">
        <color rgba="0 0 0 1"/>
      </material>
    </visual>
    <inertial>
      <origin rpy="0 0 0" xyz="0 0 0"/>
      <mass value="0"/>
      <inertia ixx="0.0" ixy="0.0" ixz="0.0" iyy="0.0" iyz="0.0" izz="0.0"/>
    </inertial>
  </link> <!-- in pybullet, the inertia need to be specified even for dummy links, otherwise it will put an identity inertia and a mass of 1 by default -->
  <joint name="extender__leg1__INPUT_INTERFACE__COLLAR_JOINT" type="fixed">
    <parent link="extender__leg1__INPUT_INTERFACE"/>
    <child link="extender__leg1__INPUT_INTERFACE__COLLAR"/>
  </joint>
  <link name="SA023__MoJo__INPUT_INTERFACE">
    <visual>
      <origin rpy="1.57075 0 0" xyz="0 0 0.035"/>
      <geometry>
        <mesh filename="meshes/rotary_input.stl"/>
      </geometry>
      <material name="red">
        <color rgba=".82 0.06 0.06 1"/>
      </material>
    </visual>
    <collision>
      <origin rpy="0 0 0" xyz="0 0 0.0183"/>
      <geometry>
        <cylinder length="0.033" radius="0.026"/>
      </geometry>
    </collision>
    <inertial>
      <origin rpy="0 0 0" xyz="0 0 0.0366"/>
      <mass value="0.103"/>
      <inertia ixx="5.4796e-05" ixy="0" ixz="0" iyy="5.4796e-05" iyz="0" izz="3.4814e-05"/>
    </inertial>
  </link>
  <link name="SA023__MoJo__INPUT_INTERFACE__COLLAR">
    <visual>
      <origin rpy="0 0 0" xyz="0 0 0.005"/>
      <geometry>
        <cylinder length="0.01" radius="0.026"/>
      </geometry>
      <material name="black">
        <color rgba="0 0 0 1"/>
      </material>
    </visual>
    <inertial>
      <origin rpy="0 0 0" xyz="0 0 0"/>
      <mass value="0"/>
      <inertia ixx="0.0" ixy="0.0" ixz="0.0" iyy="0.0" iyz="0.0" izz="0.0"/>
    </inertial>
  </link> <!-- in pybullet, the inertia need to be specified even for dummy links, otherwise it will put an identity inertia and a mass of 1 by default -->
  <joint name="SA023__MoJo__INPUT_INTERFACE__COLLAR_JOINT" type="fixed">
    <parent link="SA023__MoJo__INPUT_INTERFACE"/>
    <child link="SA023__MoJo__INPUT_INTERFACE__COLLAR"/>
  </joint>
  <joint name="SA023__MoJo" type="revolute">
    <parent link="SA023__MoJo__INPUT_INTERFACE"/>
    <child link="SA023__MoJo__OUTPUT_BODY"/>
    <origin rpy="0 0 0" xyz="0 0 0.0366"/>
    <axis xyz="0 1 0"/>
    <dynamics damping=".1" friction="0.2"/>
    <limit effort="7.0" lower="-1.57" upper="1.57" velocity="2.208932"/>
  </joint>
  <transmission name="SA023__MoJo_trans">
    <type>transmission_interface/SimpleTransmission</type>
    <joint name="SA023__MoJo">
      <hardwareInterface>EffortJointInterface</hardwareInterface>
    </joint>
    <actuator name="SA023__MoJo_motor">
      <hardwareInterface>EffortJointInterface</hardwareInterface>
      <mechanicalReduction>300</mechanicalReduction>
    </actuator>
  </transmission>
  <link name="SA023__MoJo__OUTPUT_BODY">
    <visual>
      <origin rpy="1.57075 0 0" xyz="0 0 0"/>
      <geometry>
        <mesh filename="meshes/rotary_output.stl"/>
        <!-- <cylinder radius=".0025" length=".1" /> -->
      </geometry>
      <material name="red">
        <color rgba=".82 0.06 0.06 1"/>
      </material>
    </visual>
    <collision>
      <origin rpy="0 0 0" xyz="0 0 0.0183"/>
      <geometry>
        <cylinder length="0.033" radius="0.026"/>
      </geometry>
    </collision>
    <inertial>
      <origin rpy="0 0 0" xyz="0 0 0"/>
      <mass value="0.103"/>
      <inertia ixx="5.4796e-05" ixy="0" ixz="0" iyy="5.4796e-05" iyz="0" izz="3.4814e-05"/>
    </inertial>
  </link>
  <joint name="SA023__MoJo__OUTPUT_INTERFACE" type="fixed">
    <parent link="SA023__MoJo__OUTPUT_BODY"/>
    <child link="elbow__leg1__INPUT_INTERFACE"/>
    <origin rpy="0 0 -1.57075" xyz="0 0 0.0273"/>
  </joint>
  <link name="elbow__leg1__INPUT_INTERFACE">
    <visual>
      <origin rpy="0 0 0" xyz="0 0 0.00955"/>
      <geometry>
        <cylinder length="0.0191" radius=".0254"/>
      </geometry>
      <material name="silver">
        <color rgba="0.6 0.6 0.6 1"/>
      </material>
    </visual>
    <visual>
      <origin rpy="1.57075 0 3.14159265359" xyz="0.0274 -0.0782 0.0121"/>
      <geometry>
        <mesh filename="meshes/elbow_corner.stl"/>
      </geometry>
      <material name="silver">
        <color rgba="0.6 0.6 0.6 1"/>
      </material>
    </visual>
    <collision>
      <origin rpy="0 0 0" xyz="0 0 0.00955"/>
      <geometry>
        <cylinder length="0.0191" radius=".0254"/>
      </geometry>
    </collision>
    <collision>
      <origin rpy="0 0 0" xyz="0 -0.01 0.0311"/>
      <geometry>
        <sphere radius="0.0191"/>
      </geometry>
    </collision>
    <inertial>
      <origin rpy="0 0 0" xyz="0 0 0.0391"/>
      <mass value=".045"/>
      <inertia ixx="8.6260875e-06" ixy="0" ixz="0" iyy="8.6260875e-06" iyz="0" izz="1.45161e-05"/>
    </inertial>
  </link>
  <link name="elbow__leg1__INPUT_INTERFACE__COLLAR">
    <visual>
      <origin rpy="0 0 0" xyz="0 0 0.005"/>
      <geometry>
        <cylinder length="0.01" radius="0.026"/>
      </geometry>
      <material name="black">
        <color rgba="0 0 0 1"/>
      </material>
    </visual>
    <inertial>
      <origin rpy="0 0 0" xyz="0 0 0"/>
      <mass value="0"/>
      <inertia ixx="0.0" ixy="0.0" ixz="0.0" iyy="0.0" iyz="0.0" izz="0.0"/>
    </inertial>
  </link> <!-- in pybullet, the inertia need to be specified even for dummy links, otherwise it will put an identity inertia and a mass of 1 by default -->
  <joint name="elbow__leg1__INPUT_INTERFACE__COLLAR_JOINT" type="fixed">
    <parent link="elbow__leg1__INPUT_INTERFACE"/>
    <child link="elbow__leg1__INPUT_INTERFACE__COLLAR"/>
  </joint>
  <joint name="elbow__leg1__MID_ELBOW_JOINT" type="fixed">
    <parent link="elbow__leg1__INPUT_INTERFACE"/>
    <child link="elbow__leg1__AFTER_CORNER_BODY"/>
    <origin rpy="-1.57079632679 0 3.14159265359" xyz="0 0 0.0445"/>
  </joint>
  <link name="elbow__leg1__AFTER_CORNER_BODY">
    <visual>
      <origin rpy="0 0 0" xyz="0 0 0.0857"/>
      <geometry>
        <cylinder length="0.1206" radius=".0254"/>
      </geometry>
      <material name="silver">
        <color rgba="0.6 0.6 0.6 1"/>
      </material>
    </visual>
    <collision>
      <origin rpy="0 0 0" xyz="0 0 0.0857"/>
      <geometry>
        <cylinder length="0.1206" radius=".0254"/>
      </geometry>
    </collision>
    <inertial>
      <origin rpy="0 0 0" xyz="0 0 0.0857"/>
      <mass value=".065"/>
      <inertia ixx="1.24599041667e-05" ixy="0" ixz="0" iyy="1.24599041667e-05" iyz="0" izz="2.09677e-05"/>
    </inertial>
  </link>
  <joint name="elbow__leg1__OUTPUT_INTERFACE" type="fixed">
    <parent link="elbow__leg1__AFTER_CORNER_BODY"/>
    <child link="foot__leg1__INPUT_INTERFACE"/>
    <origin rpy="0 0 -1.57079632679" xyz="0 0 0.146"/>
  </joint>
  <!--TODO: check dimensions -->
  <link name="foot__leg1__INPUT_INTERFACE">
    <visual>
      <origin rpy="0 0 0" xyz="0 0 0"/>
      <geometry>
        <sphere radius=".0254"/>
      </geometry>
      <material name="black">
        <color rgba="0 0 0 1"/>
      </material>
    </visual>
    <collision>
      <origin rpy="0 0 0" xyz="0 0 0"/>
      <geometry>
        <sphere radius=".0254"/>
      </geometry>
    </collision>
    <inertial>
      <origin rpy="0 0 0" xyz="0 0 0"/>
      <mass value="0"/>
      <inertia ixx="0.0" ixy="0.0" ixz="0.0" iyy="0.0" iyz="0.0" izz="0.0"/>
    </inertial>
  </link> <!-- in pybullet, the inertia need to be specified even for dummy links, otherwise it will put an identity inertia and a mass of 1 by default -->
  <link name="SA037__MoJo__INPUT_INTERFACE">
    <visual>
      <origin rpy="1.57075 0 0" xyz="0 0 0.035"/>
      <geometry>
        <mesh filename="meshes/rotary_input.stl"/>
      </geometry>
      <material name="red">
        <color rgba=".82 0.06 0.06 1"/>
      </material>
    </visual>
    <collision>
      <origin rpy="0 0 0" xyz="0 0 0.0183"/>
      <geometry>
        <cylinder length="0.033" radius="0.026"/>
      </geometry>
    </collision>
    <inertial>
      <origin rpy="0 0 0" xyz="0 0 0.0366"/>
      <mass value="0.103"/>
      <inertia ixx="5.4796e-05" ixy="0" ixz="0" iyy="5.4796e-05" iyz="0" izz="3.4814e-05"/>
    </inertial>
  </link>
  <link name="SA037__MoJo__INPUT_INTERFACE__COLLAR">
    <visual>
      <origin rpy="0 0 0" xyz="0 0 0.005"/>
      <geometry>
        <cylinder length="0.01" radius="0.026"/>
      </geometry>
      <material name="black">
        <color rgba="0 0 0 1"/>
      </material>
    </visual>
    <inertial>
      <origin rpy="0 0 0" xyz="0 0 0"/>
      <mass value="0"/>
      <inertia ixx="0.0" ixy="0.0" ixz="0.0" iyy="0.0" iyz="0.0" izz="0.0"/>
    </inertial>
  </link> <!-- in pybullet, the inertia need to be specified even for dummy links, otherwise it will put an identity inertia and a mass of 1 by default -->
  <joint name="SA037__MoJo__INPUT_INTERFACE__COLLAR_JOINT" type="fixed">
    <parent link="SA037__MoJo__INPUT_INTERFACE"/>
    <child link="SA037__MoJo__INPUT_INTERFACE__COLLAR"/>
  </joint>
  <joint name="SA037__MoJo" type="revolute">
    <parent link="SA037__MoJo__INPUT_INTERFACE"/>
    <child link="SA037__MoJo__OUTPUT_BODY"/>
    <origin rpy="0 0 0" xyz="0 0 0.0366"/>
    <axis xyz="0 1 0"/>
    <dynamics damping=".1" friction="0.2"/>
    <limit effort="7.0" lower="-1.57" upper="1.57" velocity="2.208932"/>
  </joint>
  <transmission name="SA037__MoJo_trans">
    <type>transmission_interface/SimpleTransmission</type>
    <joint name="SA037__MoJo">
      <hardwareInterface>EffortJointInterface</hardwareInterface>
    </joint>
    <actuator name="SA037__MoJo_motor">
      <hardwareInterface>EffortJointInterface</hardwareInterface>
      <mechanicalReduction>300</mechanicalReduction>
    </actuator>
  </transmission>
  <link name="SA037__MoJo__OUTPUT_BODY">
    <visual>
      <origin rpy="1.57075 0 0" xyz="0 0 0"/>
      <geometry>
        <mesh filename="meshes/rotary_output.stl"/>
        <!-- <cylinder radius=".0025" length=".1" /> -->
      </geometry>
      <material name="red">
        <color rgba=".82 0.06 0.06 1"/>
      </material>
    </visual>
    <collision>
      <origin rpy="0 0 0" xyz="0 0 0.0183"/>
      <geometry>
        <cylinder length="0.033" radius="0.026"/>
      </geometry>
    </collision>
    <inertial>
      <origin rpy="0 0 0" xyz="0 0 0"/>
      <mass value="0.103"/>
      <inertia ixx="5.4796e-05" ixy="0" ixz="0" iyy="5.4796e-05" iyz="0" izz="3.4814e-05"/>
    </inertial>
  </link>
  <joint name="SA037__MoJo__OUTPUT_INTERFACE" type="fixed">
    <parent link="SA037__MoJo__OUTPUT_BODY"/>
    <child link="SA049__MoJo__INPUT_INTERFACE"/>
    <origin rpy="0 0 -1.57075" xyz="0 0 0.0273"/>
  </joint>
  <link name="SA049__MoJo__INPUT_INTERFACE">
    <visual>
      <origin rpy="1.57075 0 0" xyz="0 0 0.035"/>
      <geometry>
        <mesh filename="meshes/rotary_input.stl"/>
      </geometry>
      <material name="red">
        <color rgba=".82 0.06 0.06 1"/>
      </material>
    </visual>
    <collision>
      <origin rpy="0 0 0" xyz="0 0 0.0183"/>
      <geometry>
        <cylinder length="0.033" radius="0.026"/>
      </geometry>
    </collision>
    <inertial>
      <origin rpy="0 0 0" xyz="0 0 0.0366"/>
      <mass value="0.103"/>
      <inertia ixx="5.4796e-05" ixy="0" ixz="0" iyy="5.4796e-05" iyz="0" izz="3.4814e-05"/>
    </inertial>
  </link>
  <link name="SA049__MoJo__INPUT_INTERFACE__COLLAR">
    <visual>
      <origin rpy="0 0 0" xyz="0 0 0.005"/>
      <geometry>
        <cylinder length="0.01" radius="0.026"/>
      </geometry>
      <material name="black">
        <color rgba="0 0 0 1"/>
      </material>
    </visual>
    <inertial>
      <origin rpy="0 0 0" xyz="0 0 0"/>
      <mass value="0"/>
      <inertia ixx="0.0" ixy="0.0" ixz="0.0" iyy="0.0" iyz="0.0" izz="0.0"/>
    </inertial>
  </link> <!-- in pybullet, the inertia need to be specified even for dummy links, otherwise it will put an identity inertia and a mass of 1 by default -->
  <joint name="SA049__MoJo__INPUT_INTERFACE__COLLAR_JOINT" type="fixed">
    <parent link="SA049__MoJo__INPUT_INTERFACE"/>
    <child link="SA049__MoJo__INPUT_INTERFACE__COLLAR"/>
  </joint>
  <joint name="SA049__MoJo" type="revolute">
    <parent link="SA049__MoJo__INPUT_INTERFACE"/>
    <child link="SA049__MoJo__OUTPUT_BODY"/>
    <origin rpy="0 0 0" xyz="0 0 0.0366"/>
    <axis xyz="0 1 0"/>
    <dynamics damping=".1" friction="0.2"/>
    <limit effort="7.0" lower="-1.57" upper="1.57" velocity="2.208932"/>
  </joint>
  <transmission name="SA049__MoJo_trans">
    <type>transmission_interface/SimpleTransmission</type>
    <joint name="SA049__MoJo">
      <hardwareInterface>EffortJointInterface</hardwareInterface>
    </joint>
    <actuator name="SA049__MoJo_motor">
      <hardwareInterface>EffortJointInterface</hardwareInterface>
      <mechanicalReduction>300</mechanicalReduction>
    </actuator>
  </transmission>
  <link name="SA049__MoJo__OUTPUT_BODY">
    <visual>
      <origin rpy="1.57075 0 0" xyz="0 0 0"/>
      <geometry>
        <mesh filename="meshes/rotary_output.stl"/>
        <!-- <cylinder radius=".0025" length=".1" /> -->
      </geometry>
      <material name="red">
        <color rgba=".82 0.06 0.06 1"/>
      </material>
    </visual>
    <collision>
      <origin rpy="0 0 0" xyz="0 0 0.0183"/>
      <geometry>
        <cylinder length="0.033" radius="0.026"/>
      </geometry>
    </collision>
    <inertial>
      <origin rpy="0 0 0" xyz="0 0 0"/>
      <mass value="0.103"/>
      <inertia ixx="5.4796e-05" ixy="0" ixz="0" iyy="5.4796e-05" iyz="0" izz="3.4814e-05"/>
    </inertial>
  </link>
  <joint name="SA049__MoJo__OUTPUT_INTERFACE" type="fixed">
    <parent link="SA049__MoJo__OUTPUT_BODY"/>
    <child link="extender__leg2__INPUT_INTERFACE"/>
    <origin rpy="0 0 -1.57075" xyz="0 0 0.0273"/>
  </joint>
  <link name="extender__leg2__INPUT_INTERFACE">
    <visual>
      <origin rpy="0 0 0" xyz="0 0 0.025"/>
      <geometry>
        <cylinder length="0.05" radius=".0254"/>
      </geometry>
      <material name="silver">
        <color rgba="0.6 0.6 0.6 1"/>
      </material>
    </visual>
    <collision>
      <origin rpy="0 0 0" xyz="0 0 0.025"/>
      <geometry>
        <cylinder length="0.05" radius=".0254"/>
      </geometry>
    </collision>
    <inertial>
      <origin rpy="0 0 0" xyz="0 0 0.025"/>
      <mass value=".05"/>
      <inertia ixx="2.50134116667e-05" ixy="0" ixz="0" iyy="2.50134116667e-05" iyz="0" izz="2.919349e-05"/>
    </inertial>
  </link>
  <joint name="extender__leg2__OUTPUT_INTERFACE" type="fixed">
    <parent link="extender__leg2__INPUT_INTERFACE"/>
    <child link="SA030__MoJo__INPUT_INTERFACE"/>
    <origin rpy="0 0 1.57079632679" xyz="0 0 0.05"/>
  </joint>
  <link name="extender__leg2__INPUT_INTERFACE__COLLAR">
    <visual>
      <origin rpy="0 0 0" xyz="0 0 0.005"/>
      <geometry>
        <cylinder length="0.01" radius="0.026"/>
      </geometry>
      <material name="black">
        <color rgba="0 0 0 1"/>
      </material>
    </visual>
    <inertial>
      <origin rpy="0 0 0" xyz="0 0 0"/>
      <mass value="0"/>
      <inertia ixx="0.0" ixy="0.0" ixz="0.0" iyy="0.0" iyz="0.0" izz="0.0"/>
    </inertial>
  </link> <!-- in pybullet, the inertia need to be specified even for dummy links, otherwise it will put an identity inertia and a mass of 1 by default -->
  <joint name="extender__leg2__INPUT_INTERFACE__COLLAR_JOINT" type="fixed">
    <parent link="extender__leg2__INPUT_INTERFACE"/>
    <child link="extender__leg2__INPUT_INTERFACE__COLLAR"/>
  </joint>
  <link name="SA030__MoJo__INPUT_INTERFACE">
    <visual>
      <origin rpy="1.57075 0 0" xyz="0 0 0.035"/>
      <geometry>
        <mesh filename="meshes/rotary_input.stl"/>
      </geometry>
      <material name="red">
        <color rgba=".82 0.06 0.06 1"/>
      </material>
    </visual>
    <collision>
      <origin rpy="0 0 0" xyz="0 0 0.0183"/>
      <geometry>
        <cylinder length="0.033" radius="0.026"/>
      </geometry>
    </collision>
    <inertial>
      <origin rpy="0 0 0" xyz="0 0 0.0366"/>
      <mass value="0.103"/>
      <inertia ixx="5.4796e-05" ixy="0" ixz="0" iyy="5.4796e-05" iyz="0" izz="3.4814e-05"/>
    </inertial>
  </link>
  <link name="SA030__MoJo__INPUT_INTERFACE__COLLAR">
    <visual>
      <origin rpy="0 0 0" xyz="0 0 0.005"/>
      <geometry>
        <cylinder length="0.01" radius="0.026"/>
      </geometry>
      <material name="black">
        <color rgba="0 0 0 1"/>
      </material>
    </visual>
    <inertial>
      <origin rpy="0 0 0" xyz="0 0 0"/>
      <mass value="0"/>
      <inertia ixx="0.0" ixy="0.0" ixz="0.0" iyy="0.0" iyz="0.0" izz="0.0"/>
    </inertial>
  </link> <!-- in pybullet, the inertia need to be specified even for dummy links, otherwise it will put an identity inertia and a mass of 1 by default -->
  <joint name="SA030__MoJo__INPUT_INTERFACE__COLLAR_JOINT" type="fixed">
    <parent link="SA030__MoJo__INPUT_INTERFACE"/>
    <child link="SA030__MoJo__INPUT_INTERFACE__COLLAR"/>
  </joint>
  <joint name="SA030__MoJo" type="revolute">
    <parent link="SA030__MoJo__INPUT_INTERFACE"/>
    <child link="SA030__MoJo__OUTPUT_BODY"/>
    <origin rpy="0 0 0" xyz="0 0 0.0366"/>
    <axis xyz="0 1 0"/>
    <dynamics damping=".1" friction="0.2"/>
    <limit effort="7.0" lower="-1.57" upper="1.57" velocity="2.208932"/>
  </joint>
  <transmission name="SA030__MoJo_trans">
    <type>transmission_interface/SimpleTransmission</type>
    <joint name="SA030__MoJo">
      <hardwareInterface>EffortJointInterface</hardwareInterface>
    </joint>
    <actuator name="SA030__MoJo_motor">
      <hardwareInterface>EffortJointInterface</hardwareInterface>
      <mechanicalReduction>300</mechanicalReduction>
    </actuator>
  </transmission>
  <link name="SA030__MoJo__OUTPUT_BODY">
    <visual>
      <origin rpy="1.57075 0 0" xyz="0 0 0"/>
      <geometry>
        <mesh filename="meshes/rotary_output.stl"/>
        <!-- <cylinder radius=".0025" length=".1" /> -->
      </geometry>
      <material name="red">
        <color rgba=".82 0.06 0.06 1"/>
      </material>
    </visual>
    <collision>
      <origin rpy="0 0 0" xyz="0 0 0.0183"/>
      <geometry>
        <cylinder length="0.033" radius="0.026"/>
      </geometry>
    </collision>
    <inertial>
      <origin rpy="0 0 0" xyz="0 0 0"/>
      <mass value="0.103"/>
      <inertia ixx="5.4796e-05" ixy="0" ixz="0" iyy="5.4796e-05" iyz="0" izz="3.4814e-05"/>
    </inertial>
  </link>
  <joint name="SA030__MoJo__OUTPUT_INTERFACE" type="fixed">
    <parent link="SA030__MoJo__OUTPUT_BODY"/>
    <child link="elbow__leg2__INPUT_INTERFACE"/>
    <origin rpy="0 0 -1.57075" xyz="0 0 0.0273"/>
  </joint>
  <link name="elbow__leg2__INPUT_INTERFACE">
    <visual>
      <origin rpy="0 0 0" xyz="0 0 0.00955"/>
      <geometry>
        <cylinder length="0.0191" radius=".0254"/>
      </geometry>
      <material name="silver">
        <color rgba="0.6 0.6 0.6 1"/>
      </material>
    </visual>
    <visual>
      <origin rpy="1.57075 0 3.14159265359" xyz="0.0274 -0.0782 0.0121"/>
      <geometry>
        <mesh filename="meshes/elbow_corner.stl"/>
      </geometry>
      <material name="silver">
        <color rgba="0.6 0.6 0.6 1"/>
      </material>
    </visual>
    <collision>
      <origin rpy="0 0 0" xyz="0 0 0.00955"/>
      <geometry>
        <cylinder length="0.0191" radius=".0254"/>
      </geometry>
    </collision>
    <collision>
      <origin rpy="0 0 0" xyz="0 -0.01 0.0311"/>
      <geometry>
        <sphere radius="0.0191"/>
      </geometry>
    </collision>
    <inertial>
      <origin rpy="0 0 0" xyz="0 0 0.0391"/>
      <mass value=".045"/>
      <inertia ixx="8.6260875e-06" ixy="0" ixz="0" iyy="8.6260875e-06" iyz="0" izz="1.45161e-05"/>
    </inertial>
  </link>
  <link name="elbow__leg2__INPUT_INTERFACE__COLLAR">
    <visual>
      <origin rpy="0 0 0" xyz="0 0 0.005"/>
      <geometry>
        <cylinder length="0.01" radius="0.026"/>
      </geometry>
      <material name="black">
        <color rgba="0 0 0 1"/>
      </material>
    </visual>
    <inertial>
      <origin rpy="0 0 0" xyz="0 0 0"/>
      <mass value="0"/>
      <inertia ixx="0.0" ixy="0.0" ixz="0.0" iyy="0.0" iyz="0.0" izz="0.0"/>
    </inertial>
  </link> <!-- in pybullet, the inertia need to be specified even for dummy links, otherwise it will put an identity inertia and a mass of 1 by default -->
  <joint name="elbow__leg2__INPUT_INTERFACE__COLLAR_JOINT" type="fixed">
    <parent link="elbow__leg2__INPUT_INTERFACE"/>
    <child link="elbow__leg2__INPUT_INTERFACE__COLLAR"/>
  </joint>
  <joint name="elbow__leg2__MID_ELBOW_JOINT" type="fixed">
    <parent link="elbow__leg2__INPUT_INTERFACE"/>
    <child link="elbow__leg2__AFTER_CORNER_BODY"/>
    <origin rpy="-1.57079632679 0 3.14159265359" xyz="0 0 0.0445"/>
  </joint>
  <link name="elbow__leg2__AFTER_CORNER_BODY">
    <visual>
      <origin rpy="0 0 0" xyz="0 0 0.0857"/>
      <geometry>
        <cylinder length="0.1206" radius=".0254"/>
      </geometry>
      <material name="silver">
        <color rgba="0.6 0.6 0.6 1"/>
      </material>
    </visual>
    <collision>
      <origin rpy="0 0 0" xyz="0 0 0.0857"/>
      <geometry>
        <cylinder length="0.1206" radius=".0254"/>
      </geometry>
    </collision>
    <inertial>
      <origin rpy="0 0 0" xyz="0 0 0.0857"/>
      <mass value=".065"/>
      <inertia ixx="1.24599041667e-05" ixy="0" ixz="0" iyy="1.24599041667e-05" iyz="0" izz="2.09677e-05"/>
    </inertial>
  </link>
  <joint name="elbow__leg2__OUTPUT_INTERFACE" type="fixed">
    <parent link="elbow__leg2__AFTER_CORNER_BODY"/>
    <child link="foot__leg2__INPUT_INTERFACE"/>
    <origin rpy="0 0 -1.57079632679" xyz="0 0 0.146"/>
  </joint>
  <!--TODO: check dimensions -->
  <link name="foot__leg2__INPUT_INTERFACE">
    <visual>
      <origin rpy="0 0 0" xyz="0 0 0"/>
      <geometry>
        <sphere radius=".0254"/>
      </geometry>
      <material name="black">
        <color rgba="0 0 0 1"/>
      </material>
    </visual>
    <collision>
      <origin rpy="0 0 0" xyz="0 0 0"/>
      <geometry>
        <sphere radius=".0254"/>
      </geometry>
    </collision>
    <inertial>
      <origin rpy="0 0 0" xyz="0 0 0"/>
      <mass value="0"/>
      <inertia ixx="0.0" ixy="0.0" ixz="0.0" iyy="0.0" iyz="0.0" izz="0.0"/>
    </inertial>
  </link> <!-- in pybullet, the inertia need to be specified even for dummy links, otherwise it will put an identity inertia and a mass of 1 by default -->
  <link name="SA036__MoJo__INPUT_INTERFACE">
    <visual>
      <origin rpy="1.57075 0 0" xyz="0 0 0.035"/>
      <geometry>
        <mesh filename="meshes/rotary_input.stl"/>
      </geometry>
      <material name="red">
        <color rgba=".82 0.06 0.06 1"/>
      </material>
    </visual>
    <collision>
      <origin rpy="0 0 0" xyz="0 0 0.0183"/>
      <geometry>
        <cylinder length="0.033" radius="0.026"/>
      </geometry>
    </collision>
    <inertial>
      <origin rpy="0 0 0" xyz="0 0 0.0366"/>
      <mass value="0.103"/>
      <inertia ixx="5.4796e-05" ixy="0" ixz="0" iyy="5.4796e-05" iyz="0" izz="3.4814e-05"/>
    </inertial>
  </link>
  <link name="SA036__MoJo__INPUT_INTERFACE__COLLAR">
    <visual>
      <origin rpy="0 0 0" xyz="0 0 0.005"/>
      <geometry>
        <cylinder length="0.01" radius="0.026"/>
      </geometry>
      <material name="black">
        <color rgba="0 0 0 1"/>
      </material>
    </visual>
    <inertial>
      <origin rpy="0 0 0" xyz="0 0 0"/>
      <mass value="0"/>
      <inertia ixx="0.0" ixy="0.0" ixz="0.0" iyy="0.0" iyz="0.0" izz="0.0"/>
    </inertial>
  </link> <!-- in pybullet, the inertia need to be specified even for dummy links, otherwise it will put an identity inertia and a mass of 1 by default -->
  <joint name="SA036__MoJo__INPUT_INTERFACE__COLLAR_JOINT" type="fixed">
    <parent link="SA036__MoJo__INPUT_INTERFACE"/>
    <child link="SA036__MoJo__INPUT_INTERFACE__COLLAR"/>
  </joint>
  <joint name="SA036__MoJo" type="revolute">
    <parent link="SA036__MoJo__INPUT_INTERFACE"/>
    <child link="SA036__MoJo__OUTPUT_BODY"/>
    <origin rpy="0 0 0" xyz="0 0 0.0366"/>
    <axis xyz="0 1 0"/>
    <dynamics damping=".1" friction="0.2"/>
    <limit effort="7.0" lower="-1.57" upper="1.57" velocity="2.208932"/>
  </joint>
  <transmission name="SA036__MoJo_trans">
    <type>transmission_interface/SimpleTransmission</type>
    <joint name="SA036__MoJo">
      <hardwareInterface>EffortJointInterface</hardwareInterface>
    </joint>
    <actuator name="SA036__MoJo_motor">
      <hardwareInterface>EffortJointInterface</hardwareInterface>
      <mechanicalReduction>300</mechanicalReduction>
    </actuator>
  </transmission>
  <link name="SA036__MoJo__OUTPUT_BODY">
    <visual>
      <origin rpy="1.57075 0 0" xyz="0 0 0"/>
      <geometry>
        <mesh filename="meshes/rotary_output.stl"/>
        <!-- <cylinder radius=".0025" length=".1" /> -->
      </geometry>
      <material name="red">
        <color rgba=".82 0.06 0.06 1"/>
      </material>
    </visual>
    <collision>
      <origin rpy="0 0 0" xyz="0 0 0.0183"/>
      <geometry>
        <cylinder length="0.033" radius="0.026"/>
      </geometry>
    </collision>
    <inertial>
      <origin rpy="0 0 0" xyz="0 0 0"/>
      <mass value="0.103"/>
      <inertia ixx="5.4796e-05" ixy="0" ixz="0" iyy="5.4796e-05" iyz="0" izz="3.4814e-05"/>
    </inertial>
  </link>
  <joint name="SA036__MoJo__OUTPUT_INTERFACE" type="fixed">
    <parent link="SA036__MoJo__OUTPUT_BODY"/>
    <child link="SA046__MoJo__INPUT_INTERFACE"/>
    <origin rpy="0 0 -1.57075" xyz="0 0 0.0273"/>
  </joint>
  <link name="SA046__MoJo__INPUT_INTERFACE">
    <visual>
      <origin rpy="1.57075 0 0" xyz="0 0 0.035"/>
      <geometry>
        <mesh filename="meshes/rotary_input.stl"/>
      </geometry>
      <material name="red">
        <color rgba=".82 0.06 0.06 1"/>
      </material>
    </visual>
    <collision>
      <origin rpy="0 0 0" xyz="0 0 0.0183"/>
      <geometry>
        <cylinder length="0.033" radius="0.026"/>
      </geometry>
    </collision>
    <inertial>
      <origin rpy="0 0 0" xyz="0 0 0.0366"/>
      <mass value="0.103"/>
      <inertia ixx="5.4796e-05" ixy="0" ixz="0" iyy="5.4796e-05" iyz="0" izz="3.4814e-05"/>
    </inertial>
  </link>
  <link name="SA046__MoJo__INPUT_INTERFACE__COLLAR">
    <visual>
      <origin rpy="0 0 0" xyz="0 0 0.005"/>
      <geometry>
        <cylinder length="0.01" radius="0.026"/>
      </geometry>
      <material name="black">
        <color rgba="0 0 0 1"/>
      </material>
    </visual>
    <inertial>
      <origin rpy="0 0 0" xyz="0 0 0"/>
      <mass value="0"/>
      <inertia ixx="0.0" ixy="0.0" ixz="0.0" iyy="0.0" iyz="0.0" izz="0.0"/>
    </inertial>
  </link> <!-- in pybullet, the inertia need to be specified even for dummy links, otherwise it will put an identity inertia and a mass of 1 by default -->
  <joint name="SA046__MoJo__INPUT_INTERFACE__COLLAR_JOINT" type="fixed">
    <parent link="SA046__MoJo__INPUT_INTERFACE"/>
    <child link="SA046__MoJo__INPUT_INTERFACE__COLLAR"/>
  </joint>
  <joint name="SA046__MoJo" type="revolute">
    <parent link="SA046__MoJo__INPUT_INTERFACE"/>
    <child link="SA046__MoJo__OUTPUT_BODY"/>
    <origin rpy="0 0 0" xyz="0 0 0.0366"/>
    <axis xyz="0 1 0"/>
    <dynamics damping=".1" friction="0.2"/>
    <limit effort="7.0" lower="-1.57" upper="1.57" velocity="2.208932"/>
  </joint>
  <transmission name="SA046__MoJo_trans">
    <type>transmission_interface/SimpleTransmission</type>
    <joint name="SA046__MoJo">
      <hardwareInterface>EffortJointInterface</hardwareInterface>
    </joint>
    <actuator name="SA046__MoJo_motor">
      <hardwareInterface>EffortJointInterface</hardwareInterface>
      <mechanicalReduction>300</mechanicalReduction>
    </actuator>
  </transmission>
  <link name="SA046__MoJo__OUTPUT_BODY">
    <visual>
      <origin rpy="1.57075 0 0" xyz="0 0 0"/>
      <geometry>
        <mesh filename="meshes/rotary_output.stl"/>
        <!-- <cylinder radius=".0025" length=".1" /> -->
      </geometry>
      <material name="red">
        <color rgba=".82 0.06 0.06 1"/>
      </material>
    </visual>
    <collision>
      <origin rpy="0 0 0" xyz="0 0 0.0183"/>
      <geometry>
        <cylinder length="0.033" radius="0.026"/>
      </geometry>
    </collision>
    <inertial>
      <origin rpy="0 0 0" xyz="0 0 0"/>
      <mass value="0.103"/>
      <inertia ixx="5.4796e-05" ixy="0" ixz="0" iyy="5.4796e-05" iyz="0" izz="3.4814e-05"/>
    </inertial>
  </link>
  <joint name="SA046__MoJo__OUTPUT_INTERFACE" type="fixed">
    <parent link="SA046__MoJo__OUTPUT_BODY"/>
    <child link="extender__leg3__INPUT_INTERFACE"/>
    <origin rpy="0 0 -1.57075" xyz="0 0 0.0273"/>
  </joint>
  <link name="extender__leg3__INPUT_INTERFACE">
    <visual>
      <origin rpy="0 0 0" xyz="0 0 0.025"/>
      <geometry>
        <cylinder length="0.05" radius=".0254"/>
      </geometry>
      <material name="silver">
        <color rgba="0.6 0.6 0.6 1"/>
      </material>
    </visual>
    <collision>
      <origin rpy="0 0 0" xyz="0 0 0.025"/>
      <geometry>
        <cylinder length="0.05" radius=".0254"/>
      </geometry>
    </collision>
    <inertial>
      <origin rpy="0 0 0" xyz="0 0 0.025"/>
      <mass value=".05"/>
      <inertia ixx="2.50134116667e-05" ixy="0" ixz="0" iyy="2.50134116667e-05" iyz="0" izz="2.919349e-05"/>
    </inertial>
  </link>
  <joint name="extender__leg3__OUTPUT_INTERFACE" type="fixed">
    <parent link="extender__leg3__INPUT_INTERFACE"/>
    <child link="SA038__MoJo__INPUT_INTERFACE"/>
    <origin rpy="0 0 1.57079632679" xyz="0 0 0.05"/>
  </joint>
  <link name="extender__leg3__INPUT_INTERFACE__COLLAR">
    <visual>
      <origin rpy="0 0 0" xyz="0 0 0.005"/>
      <geometry>
        <cylinder length="0.01" radius="0.026"/>
      </geometry>
      <material name="black">
        <color rgba="0 0 0 1"/>
      </material>
    </visual>
    <inertial>
      <origin rpy="0 0 0" xyz="0 0 0"/>
      <mass value="0"/>
      <inertia ixx="0.0" ixy="0.0" ixz="0.0" iyy="0.0" iyz="0.0" izz="0.0"/>
    </inertial>
  </link> <!-- in pybullet, the inertia need to be specified even for dummy links, otherwise it will put an identity inertia and a mass of 1 by default -->
  <joint name="extender__leg3__INPUT_INTERFACE__COLLAR_JOINT" type="fixed">
    <parent link="extender__leg3__INPUT_INTERFACE"/>
    <child link="extender__leg3__INPUT_INTERFACE__COLLAR"/>
  </joint>
  <link name="SA038__MoJo__INPUT_INTERFACE">
    <visual>
      <origin rpy="1.57075 0 0" xyz="0 0 0.035"/>
      <geometry>
        <mesh filename="meshes/rotary_input.stl"/>
      </geometry>
      <material name="red">
        <color rgba=".82 0.06 0.06 1"/>
      </material>
    </visual>
    <collision>
      <origin rpy="0 0 0" xyz="0 0 0.0183"/>
      <geometry>
        <cylinder length="0.033" radius="0.026"/>
      </geometry>
    </collision>
    <inertial>
      <origin rpy="0 0 0" xyz="0 0 0.0366"/>
      <mass value="0.103"/>
      <inertia ixx="5.4796e-05" ixy="0" ixz="0" iyy="5.4796e-05" iyz="0" izz="3.4814e-05"/>
    </inertial>
  </link>
  <link name="SA038__MoJo__INPUT_INTERFACE__COLLAR">
    <visual>
      <origin rpy="0 0 0" xyz="0 0 0.005"/>
      <geometry>
        <cylinder length="0.01" radius="0.026"/>
      </geometry>
      <material name="black">
        <color rgba="0 0 0 1"/>
      </material>
    </visual>
    <inertial>
      <origin rpy="0 0 0" xyz="0 0 0"/>
      <mass value="0"/>
      <inertia ixx="0.0" ixy="0.0" ixz="0.0" iyy="0.0" iyz="0.0" izz="0.0"/>
    </inertial>
  </link> <!-- in pybullet, the inertia need to be specified even for dummy links, otherwise it will put an identity inertia and a mass of 1 by default -->
  <joint name="SA038__MoJo__INPUT_INTERFACE__COLLAR_JOINT" type="fixed">
    <parent link="SA038__MoJo__INPUT_INTERFACE"/>
    <child link="SA038__MoJo__INPUT_INTERFACE__COLLAR"/>
  </joint>
  <joint name="SA038__MoJo" type="revolute">
    <parent link="SA038__MoJo__INPUT_INTERFACE"/>
    <child link="SA038__MoJo__OUTPUT_BODY"/>
    <origin rpy="0 0 0" xyz="0 0 0.0366"/>
    <axis xyz="0 1 0"/>
    <dynamics damping=".1" friction="0.2"/>
    <limit effort="7.0" lower="-1.57" upper="1.57" velocity="2.208932"/>
  </joint>
  <transmission name="SA038__MoJo_trans">
    <type>transmission_interface/SimpleTransmission</type>
    <joint name="SA038__MoJo">
      <hardwareInterface>EffortJointInterface</hardwareInterface>
    </joint>
    <actuator name="SA038__MoJo_motor">
      <hardwareInterface>EffortJointInterface</hardwareInterface>
      <mechanicalReduction>300</mechanicalReduction>
    </actuator>
  </transmission>
  <link name="SA038__MoJo__OUTPUT_BODY">
    <visual>
      <origin rpy="1.57075 0 0" xyz="0 0 0"/>
      <geometry>
        <mesh filename="meshes/rotary_output.stl"/>
        <!-- <cylinder radius=".0025" length=".1" /> -->
      </geometry>
      <material name="red">
        <color rgba=".82 0.06 0.06 1"/>
      </material>
    </visual>
    <collision>
      <origin rpy="0 0 0" xyz="0 0 0.0183"/>
      <geometry>
        <cylinder length="0.033" radius="0.026"/>
      </geometry>
    </collision>
    <inertial>
      <origin rpy="0 0 0" xyz="0 0 0"/>
      <mass value="0.103"/>
      <inertia ixx="5.4796e-05" ixy="0" ixz="0" iyy="5.4796e-05" iyz="0" izz="3.4814e-05"/>
    </inertial>
  </link>
  <joint name="SA038__MoJo__OUTPUT_INTERFACE" type="fixed">
    <parent link="SA038__MoJo__OUTPUT_BODY"/>
    <child link="elbow__leg3__INPUT_INTERFACE"/>
    <origin rpy="0 0 -1.57075" xyz="0 0 0.0273"/>
  </joint>
  <link name="elbow__leg3__INPUT_INTERFACE">
    <visual>
      <origin rpy="0 0 0" xyz="0 0 0.00955"/>
      <geometry>
        <cylinder length="0.0191" radius=".0254"/>
      </geometry>
      <material name="silver">
        <color rgba="0.6 0.6 0.6 1"/>
      </material>
    </visual>
    <visual>
      <origin rpy="1.57075 0 3.14159265359" xyz="0.0274 -0.0782 0.0121"/>
      <geometry>
        <mesh filename="meshes/elbow_corner.stl"/>
      </geometry>
      <material name="silver">
        <color rgba="0.6 0.6 0.6 1"/>
      </material>
    </visual>
    <collision>
      <origin rpy="0 0 0" xyz="0 0 0.00955"/>
      <geometry>
        <cylinder length="0.0191" radius=".0254"/>
      </geometry>
    </collision>
    <collision>
      <origin rpy="0 0 0" xyz="0 -0.01 0.0311"/>
      <geometry>
        <sphere radius="0.0191"/>
      </geometry>
    </collision>
    <inertial>
      <origin rpy="0 0 0" xyz="0 0 0.0391"/>
      <mass value=".045"/>
      <inertia ixx="8.6260875e-06" ixy="0" ixz="0" iyy="8.6260875e-06" iyz="0" izz="1.45161e-05"/>
    </inertial>
  </link>
  <link name="elbow__leg3__INPUT_INTERFACE__COLLAR">
    <visual>
      <origin rpy="0 0 0" xyz="0 0 0.005"/>
      <geometry>
        <cylinder length="0.01" radius="0.026"/>
      </geometry>
      <material name="black">
        <color rgba="0 0 0 1"/>
      </material>
    </visual>
    <inertial>
      <origin rpy="0 0 0" xyz="0 0 0"/>
      <mass value="0"/>
      <inertia ixx="0.0" ixy="0.0" ixz="0.0" iyy="0.0" iyz="0.0" izz="0.0"/>
    </inertial>
  </link> <!-- in pybullet, the inertia need to be specified even for dummy links, otherwise it will put an identity inertia and a mass of 1 by default -->
  <joint name="elbow__leg3__INPUT_INTERFACE__COLLAR_JOINT" type="fixed">
    <parent link="elbow__leg3__INPUT_INTERFACE"/>
    <child link="elbow__leg3__INPUT_INTERFACE__COLLAR"/>
  </joint>
  <joint name="elbow__leg3__MID_ELBOW_JOINT" type="fixed">
    <parent link="elbow__leg3__INPUT_INTERFACE"/>
    <child link="elbow__leg3__AFTER_CORNER_BODY"/>
    <origin rpy="-1.57079632679 0 3.14159265359" xyz="0 0 0.0445"/>
  </joint>
  <link name="elbow__leg3__AFTER_CORNER_BODY">
    <visual>
      <origin rpy="0 0 0" xyz="0 0 0.0857"/>
      <geometry>
        <cylinder length="0.1206" radius=".0254"/>
      </geometry>
      <material name="silver">
        <color rgba="0.6 0.6 0.6 1"/>
      </material>
    </visual>
    <collision>
      <origin rpy="0 0 0" xyz="0 0 0.0857"/>
      <geometry>
        <cylinder length="0.1206" radius=".0254"/>
      </geometry>
    </collision>
    <inertial>
      <origin rpy="0 0 0" xyz="0 0 0.0857"/>
      <mass value=".065"/>
      <inertia ixx="1.24599041667e-05" ixy="0" ixz="0" iyy="1.24599041667e-05" iyz="0" izz="2.09677e-05"/>
    </inertial>
  </link>
  <joint name="elbow__leg3__OUTPUT_INTERFACE" type="fixed">
    <parent link="elbow__leg3__AFTER_CORNER_BODY"/>
    <child link="foot__leg3__INPUT_INTERFACE"/>
    <origin rpy="0 0 -1.57079632679" xyz="0 0 0.146"/>
  </joint>
  <!--TODO: check dimensions -->
  <link name="foot__leg3__INPUT_INTERFACE">
    <visual>
      <origin rpy="0 0 0" xyz="0 0 0"/>
      <geometry>
        <sphere radius=".0254"/>
      </geometry>
      <material name="black">
        <color rgba="0 0 0 1"/>
      </material>
    </visual>
    <collision>
      <origin rpy="0 0 0" xyz="0 0 0"/>
      <geometry>
        <sphere radius=".0254"/>
      </geometry>
    </collision>
    <inertial>
      <origin rpy="0 0 0" xyz="0 0 0"/>
      <mass value="0"/>
      <inertia ixx="0.0" ixy="0.0" ixz="0.0" iyy="0.0" iyz="0.0" izz="0.0"/>
    </inertial>
  </link> <!-- in pybullet, the inertia need to be specified even for dummy links, otherwise it will put an identity inertia and a mass of 1 by default -->
  <link name="SA022__MoJo__INPUT_INTERFACE">
    <visual>
      <origin rpy="1.57075 0 0" xyz="0 0 0.035"/>
      <geometry>
        <mesh filename="meshes/rotary_input.stl"/>
      </geometry>
      <material name="red">
        <color rgba=".82 0.06 0.06 1"/>
      </material>
    </visual>
    <collision>
      <origin rpy="0 0 0" xyz="0 0 0.0183"/>
      <geometry>
        <cylinder length="0.033" radius="0.026"/>
      </geometry>
    </collision>
    <inertial>
      <origin rpy="0 0 0" xyz="0 0 0.0366"/>
      <mass value="0.103"/>
      <inertia ixx="5.4796e-05" ixy="0" ixz="0" iyy="5.4796e-05" iyz="0" izz="3.4814e-05"/>
    </inertial>
  </link>
  <link name="SA022__MoJo__INPUT_INTERFACE__COLLAR">
    <visual>
      <origin rpy="0 0 0" xyz="0 0 0.005"/>
      <geometry>
        <cylinder length="0.01" radius="0.026"/>
      </geometry>
      <material name="black">
        <color rgba="0 0 0 1"/>
      </material>
    </visual>
    <inertial>
      <origin rpy="0 0 0" xyz="0 0 0"/>
      <mass value="0"/>
      <inertia ixx="0.0" ixy="0.0" ixz="0.0" iyy="0.0" iyz="0.0" izz="0.0"/>
    </inertial>
  </link> <!-- in pybullet, the inertia need to be specified even for dummy links, otherwise it will put an identity inertia and a mass of 1 by default -->
  <joint name="SA022__MoJo__INPUT_INTERFACE__COLLAR_JOINT" type="fixed">
    <parent link="SA022__MoJo__INPUT_INTERFACE"/>
    <child link="SA022__MoJo__INPUT_INTERFACE__COLLAR"/>
  </joint>
  <joint name="SA022__MoJo" type="revolute">
    <parent link="SA022__MoJo__INPUT_INTERFACE"/>
    <child link="SA022__MoJo__OUTPUT_BODY"/>
    <origin rpy="0 0 0" xyz="0 0 0.0366"/>
    <axis xyz="0 1 0"/>
    <dynamics damping=".1" friction="0.2"/>
    <limit effort="7.0" lower="-1.57" upper="1.57" velocity="2.208932"/>
  </joint>
  <transmission name="SA022__MoJo_trans">
    <type>transmission_interface/SimpleTransmission</type>
    <joint name="SA022__MoJo">
      <hardwareInterface>EffortJointInterface</hardwareInterface>
    </joint>
    <actuator name="SA022__MoJo_motor">
      <hardwareInterface>EffortJointInterface</hardwareInterface>
      <mechanicalReduction>300</mechanicalReduction>
    </actuator>
  </transmission>
  <link name="SA022__MoJo__OUTPUT_BODY">
    <visual>
      <origin rpy="1.57075 0 0" xyz="0 0 0"/>
      <geometry>
        <mesh filename="meshes/rotary_output.stl"/>
        <!-- <cylinder radius=".0025" length=".1" /> -->
      </geometry>
      <material name="red">
        <color rgba=".82 0.06 0.06 1"/>
      </material>
    </visual>
    <collision>
      <origin rpy="0 0 0" xyz="0 0 0.0183"/>
      <geometry>
        <cylinder length="0.033" radius="0.026"/>
      </geometry>
    </collision>
    <inertial>
      <origin rpy="0 0 0" xyz="0 0 0"/>
      <mass value="0.103"/>
      <inertia ixx="5.4796e-05" ixy="0" ixz="0" iyy="5.4796e-05" iyz="0" izz="3.4814e-05"/>
    </inertial>
  </link>
  <joint name="SA022__MoJo__OUTPUT_INTERFACE" type="fixed">
    <parent link="SA022__MoJo__OUTPUT_BODY"/>
    <child link="SA050__MoJo__INPUT_INTERFACE"/>
    <origin rpy="0 0 -1.57075" xyz="0 0 0.0273"/>
  </joint>
  <link name="SA050__MoJo__INPUT_INTERFACE">
    <visual>
      <origin rpy="1.57075 0 0" xyz="0 0 0.035"/>
      <geometry>
        <mesh filename="meshes/rotary_input.stl"/>
      </geometry>
      <material name="red">
        <color rgba=".82 0.06 0.06 1"/>
      </material>
    </visual>
    <collision>
      <origin rpy="0 0 0" xyz="0 0 0.0183"/>
      <geometry>
        <cylinder length="0.033" radius="0.026"/>
      </geometry>
    </collision>
    <inertial>
      <origin rpy="0 0 0" xyz="0 0 0.0366"/>
      <mass value="0.103"/>
      <inertia ixx="5.4796e-05" ixy="0" ixz="0" iyy="5.4796e-05" iyz="0" izz="3.4814e-05"/>
    </inertial>
  </link>
  <link name="SA050__MoJo__INPUT_INTERFACE__COLLAR">
    <visual>
      <origin rpy="0 0 0" xyz="0 0 0.005"/>
      <geometry>
        <cylinder length="0.01" radius="0.026"/>
      </geometry>
      <material name="black">
        <color rgba="0 0 0 1"/>
      </material>
    </visual>
    <inertial>
      <origin rpy="0 0 0" xyz="0 0 0"/>
      <mass value="0"/>
      <inertia ixx="0.0" ixy="0.0" ixz="0.0" iyy="0.0" iyz="0.0" izz="0.0"/>
    </inertial>
  </link> <!-- in pybullet, the inertia need to be specified even for dummy links, otherwise it will put an identity inertia and a mass of 1 by default -->
  <joint name="SA050__MoJo__INPUT_INTERFACE__COLLAR_JOINT" type="fixed">
    <parent link="SA050__MoJo__INPUT_INTERFACE"/>
    <child link="SA050__MoJo__INPUT_INTERFACE__COLLAR"/>
  </joint>
  <joint name="SA050__MoJo" type="revolute">
    <parent link="SA050__MoJo__INPUT_INTERFACE"/>
    <child link="SA050__MoJo__OUTPUT_BODY"/>
    <origin rpy="0 0 0" xyz="0 0 0.0366"/>
    <axis xyz="0 1 0"/>
    <dynamics damping=".1" friction="0.2"/>
    <limit effort="7.0" lower="-1.57" upper="1.57" velocity="2.208932"/>
  </joint>
  <transmission name="SA050__MoJo_trans">
    <type>transmission_interface/SimpleTransmission</type>
    <joint name="SA050__MoJo">
      <hardwareInterface>EffortJointInterface</hardwareInterface>
    </joint>
    <actuator name="SA050__MoJo_motor">
      <hardwareInterface>EffortJointInterface</hardwareInterface>
      <mechanicalReduction>300</mechanicalReduction>
    </actuator>
  </transmission>
  <link name="SA050__MoJo__OUTPUT_BODY">
    <visual>
      <origin rpy="1.57075 0 0" xyz="0 0 0"/>
      <geometry>
        <mesh filename="meshes/rotary_output.stl"/>
        <!-- <cylinder radius=".0025" length=".1" /> -->
      </geometry>
      <material name="red">
        <color rgba=".82 0.06 0.06 1"/>
      </material>
    </visual>
    <collision>
      <origin rpy="0 0 0" xyz="0 0 0.0183"/>
      <geometry>
        <cylinder length="0.033" radius="0.026"/>
      </geometry>
    </collision>
    <inertial>
      <origin rpy="0 0 0" xyz="0 0 0"/>
      <mass value="0.103"/>
      <inertia ixx="5.4796e-05" ixy="0" ixz="0" iyy="5.4796e-05" iyz="0" izz="3.4814e-05"/>
    </inertial>
  </link>
  <joint name="SA050__MoJo__OUTPUT_INTERFACE" type="fixed">
    <parent link="SA050__MoJo__OUTPUT_BODY"/>
    <child link="extender__leg4__INPUT_INTERFACE"/>
    <origin rpy="0 0 -1.57075" xyz="0 0 0.0273"/>
  </joint>
  <link name="extender__leg4__INPUT_INTERFACE">
    <visual>
      <origin rpy="0 0 0" xyz="0 0 0.025"/>
      <geometry>
        <cylinder length="0.05" radius=".0254"/>
      </geometry>
      <material name="silver">
        <color rgba="0.6 0.6 0.6 1"/>
      </material>
    </visual>
    <collision>
      <origin rpy="0 0 0" xyz="0 0 0.025"/>
      <geometry>
        <cylinder length="0.05" radius=".0254"/>
      </geometry>
    </collision>
    <inertial>
      <origin rpy="0 0 0" xyz="0 0 0.025"/>
      <mass value=".05"/>
      <inertia ixx="2.50134116667e-05" ixy="0" ixz="0" iyy="2.50134116667e-05" iyz="0" izz="2.919349e-05"/>
    </inertial>
  </link>
  <joint name="extender__leg4__OUTPUT_INTERFACE" type="fixed">
    <parent link="extender__leg4__INPUT_INTERFACE"/>
    <child link="SA031__MoJo__INPUT_INTERFACE"/>
    <origin rpy="0 0 1.57079632679" xyz="0 0 0.05"/>
  </joint>
  <link name="extender__leg4__INPUT_INTERFACE__COLLAR">
    <visual>
      <origin rpy="0 0 0" xyz="0 0 0.005"/>
      <geometry>
        <cylinder length="0.01" radius="0.026"/>
      </geometry>
      <material name="black">
        <color rgba="0 0 0 1"/>
      </material>
    </visual>
    <inertial>
      <origin rpy="0 0 0" xyz="0 0 0"/>
      <mass value="0"/>
      <inertia ixx="0.0" ixy="0.0" ixz="0.0" iyy="0.0" iyz="0.0" izz="0.0"/>
    </inertial>
  </link> <!-- in pybullet, the inertia need to be specified even for dummy links, otherwise it will put an identity inertia and a mass of 1 by default -->
  <joint name="extender__leg4__INPUT_INTERFACE__COLLAR_JOINT" type="fixed">
    <parent link="extender__leg4__INPUT_INTERFACE"/>
    <child link="extender__leg4__INPUT_INTERFACE__COLLAR"/>
  </joint>
  <link name="SA031__MoJo__INPUT_INTERFACE">
    <visual>
      <origin rpy="1.57075 0 0" xyz="0 0 0.035"/>
      <geometry>
        <mesh filename="meshes/rotary_input.stl"/>
      </geometry>
      <material name="red">
        <color rgba=".82 0.06 0.06 1"/>
      </material>
    </visual>
    <collision>
      <origin rpy="0 0 0" xyz="0 0 0.0183"/>
      <geometry>
        <cylinder length="0.033" radius="0.026"/>
      </geometry>
    </collision>
    <inertial>
      <origin rpy="0 0 0" xyz="0 0 0.0366"/>
      <mass value="0.103"/>
      <inertia ixx="5.4796e-05" ixy="0" ixz="0" iyy="5.4796e-05" iyz="0" izz="3.4814e-05"/>
    </inertial>
  </link>
  <link name="SA031__MoJo__INPUT_INTERFACE__COLLAR">
    <visual>
      <origin rpy="0 0 0" xyz="0 0 0.005"/>
      <geometry>
        <cylinder length="0.01" radius="0.026"/>
      </geometry>
      <material name="black">
        <color rgba="0 0 0 1"/>
      </material>
    </visual>
    <inertial>
      <origin rpy="0 0 0" xyz="0 0 0"/>
      <mass value="0"/>
      <inertia ixx="0.0" ixy="0.0" ixz="0.0" iyy="0.0" iyz="0.0" izz="0.0"/>
    </inertial>
  </link> <!-- in pybullet, the inertia need to be specified even for dummy links, otherwise it will put an identity inertia and a mass of 1 by default -->
  <joint name="SA031__MoJo__INPUT_INTERFACE__COLLAR_JOINT" type="fixed">
    <parent link="SA031__MoJo__INPUT_INTERFACE"/>
    <child link="SA031__MoJo__INPUT_INTERFACE__COLLAR"/>
  </joint>
  <joint name="SA031__MoJo" type="revolute">
    <parent link="SA031__MoJo__INPUT_INTERFACE"/>
    <child link="SA031__MoJo__OUTPUT_BODY"/>
    <origin rpy="0 0 0" xyz="0 0 0.0366"/>
    <axis xyz="0 1 0"/>
    <dynamics damping=".1" friction="0.2"/>
    <limit effort="7.0" lower="-1.57" upper="1.57" velocity="2.208932"/>
  </joint>
  <transmission name="SA031__MoJo_trans">
    <type>transmission_interface/SimpleTransmission</type>
    <joint name="SA031__MoJo">
      <hardwareInterface>EffortJointInterface</hardwareInterface>
    </joint>
    <actuator name="SA031__MoJo_motor">
      <hardwareInterface>EffortJointInterface</hardwareInterface>
      <mechanicalReduction>300</mechanicalReduction>
    </actuator>
  </transmission>
  <link name="SA031__MoJo__OUTPUT_BODY">
    <visual>
      <origin rpy="1.57075 0 0" xyz="0 0 0"/>
      <geometry>
        <mesh filename="meshes/rotary_output.stl"/>
        <!-- <cylinder radius=".0025" length=".1" /> -->
      </geometry>
      <material name="red">
        <color rgba=".82 0.06 0.06 1"/>
      </material>
    </visual>
    <collision>
      <origin rpy="0 0 0" xyz="0 0 0.0183"/>
      <geometry>
        <cylinder length="0.033" radius="0.026"/>
      </geometry>
    </collision>
    <inertial>
      <origin rpy="0 0 0" xyz="0 0 0"/>
      <mass value="0.103"/>
      <inertia ixx="5.4796e-05" ixy="0" ixz="0" iyy="5.4796e-05" iyz="0" izz="3.4814e-05"/>
    </inertial>
  </link>
  <joint name="SA031__MoJo__OUTPUT_INTERFACE" type="fixed">
    <parent link="SA031__MoJo__OUTPUT_BODY"/>
    <child link="elbow__leg4__INPUT_INTERFACE"/>
    <origin rpy="0 0 -1.57075" xyz="0 0 0.0273"/>
  </joint>
  <link name="elbow__leg4__INPUT_INTERFACE">
    <visual>
      <origin rpy="0 0 0" xyz="0 0 0.00955"/>
      <geometry>
        <cylinder length="0.0191" radius=".0254"/>
      </geometry>
      <material name="silver">
        <color rgba="0.6 0.6 0.6 1"/>
      </material>
    </visual>
    <visual>
      <origin rpy="1.57075 0 3.14159265359" xyz="0.0274 -0.0782 0.0121"/>
      <geometry>
        <mesh filename="meshes/elbow_corner.stl"/>
      </geometry>
      <material name="silver">
        <color rgba="0.6 0.6 0.6 1"/>
      </material>
    </visual>
    <collision>
      <origin rpy="0 0 0" xyz="0 0 0.00955"/>
      <geometry>
        <cylinder length="0.0191" radius=".0254"/>
      </geometry>
    </collision>
    <collision>
      <origin rpy="0 0 0" xyz="0 -0.01 0.0311"/>
      <geometry>
        <sphere radius="0.0191"/>
      </geometry>
    </collision>
    <inertial>
      <origin rpy="0 0 0" xyz="0 0 0.0391"/>
      <mass value=".045"/>
      <inertia ixx="8.6260875e-06" ixy="0" ixz="0" iyy="8.6260875e-06" iyz="0" izz="1.45161e-05"/>
    </inertial>
  </link>
  <link name="elbow__leg4__INPUT_INTERFACE__COLLAR">
    <visual>
      <origin rpy="0 0 0" xyz="0 0 0.005"/>
      <geometry>
        <cylinder length="0.01" radius="0.026"/>
      </geometry>
      <material name="black">
        <color rgba="0 0 0 1"/>
      </material>
    </visual>
    <inertial>
      <origin rpy="0 0 0" xyz="0 0 0"/>
      <mass value="0"/>
      <inertia ixx="0.0" ixy="0.0" ixz="0.0" iyy="0.0" iyz="0.0" izz="0.0"/>
    </inertial>
  </link> <!-- in pybullet, the inertia need to be specified even for dummy links, otherwise it will put an identity inertia and a mass of 1 by default -->
  <joint name="elbow__leg4__INPUT_INTERFACE__COLLAR_JOINT" type="fixed">
    <parent link="elbow__leg4__INPUT_INTERFACE"/>
    <child link="elbow__leg4__INPUT_INTERFACE__COLLAR"/>
  </joint>
  <joint name="elbow__leg4__MID_ELBOW_JOINT" type="fixed">
    <parent link="elbow__leg4__INPUT_INTERFACE"/>
    <child link="elbow__leg4__AFTER_CORNER_BODY"/>
    <origin rpy="-1.57079632679 0 3.14159265359" xyz="0 0 0.0445"/>
  </joint>
  <link name="elbow__leg4__AFTER_CORNER_BODY">
    <visual>
      <origin rpy="0 0 0" xyz="0 0 0.0857"/>
      <geometry>
        <cylinder length="0.1206" radius=".0254"/>
      </geometry>
      <material name="silver">
        <color rgba="0.6 0.6 0.6 1"/>
      </material>
    </visual>
    <collision>
      <origin rpy="0 0 0" xyz="0 0 0.0857"/>
      <geometry>
        <cylinder length="0.1206" radius=".0254"/>
      </geometry>
    </collision>
    <inertial>
      <origin rpy="0 0 0" xyz="0 0 0.0857"/>
      <mass value=".065"/>
      <inertia ixx="1.24599041667e-05" ixy="0" ixz="0" iyy="1.24599041667e-05" iyz="0" izz="2.09677e-05"/>
    </inertial>
  </link>
  <joint name="elbow__leg4__OUTPUT_INTERFACE" type="fixed">
    <parent link="elbow__leg4__AFTER_CORNER_BODY"/>
    <child link="foot__leg4__INPUT_INTERFACE"/>
    <origin rpy="0 0 -1.57079632679" xyz="0 0 0.146"/>
  </joint>
  <!--TODO: check dimensions -->
  <link name="foot__leg4__INPUT_INTERFACE">
    <visual>
      <origin rpy="0 0 0" xyz="0 0 0"/>
      <geometry>
        <sphere radius=".0254"/>
      </geometry>
      <material name="black">
        <color rgba="0 0 0 1"/>
      </material>
    </visual>
    <collision>
      <origin rpy="0 0 0" xyz="0 0 0"/>
      <geometry>
        <sphere radius=".0254"/>
      </geometry>
    </collision>
    <inertial>
      <origin rpy="0 0 0" xyz="0 0 0"/>
      <mass value="0"/>
      <inertia ixx="0.0" ixy="0.0" ixz="0.0" iyy="0.0" iyz="0.0" izz="0.0"/>
    </inertial>
  </link> <!-- in pybullet, the inertia need to be specified even for dummy links, otherwise it will put an identity inertia and a mass of 1 by default -->
  <link name="SA002__MoJo__INPUT_INTERFACE">
    <visual>
      <origin rpy="1.57075 0 0" xyz="0 0 0.035"/>
      <geometry>
        <mesh filename="meshes/rotary_input.stl"/>
      </geometry>
      <material name="red">
        <color rgba=".82 0.06 0.06 1"/>
      </material>
    </visual>
    <collision>
      <origin rpy="0 0 0" xyz="0 0 0.0183"/>
      <geometry>
        <cylinder length="0.033" radius="0.026"/>
      </geometry>
    </collision>
    <inertial>
      <origin rpy="0 0 0" xyz="0 0 0.0366"/>
      <mass value="0.103"/>
      <inertia ixx="5.4796e-05" ixy="0" ixz="0" iyy="5.4796e-05" iyz="0" izz="3.4814e-05"/>
    </inertial>
  </link>
  <link name="SA002__MoJo__INPUT_INTERFACE__COLLAR">
    <visual>
      <origin rpy="0 0 0" xyz="0 0 0.005"/>
      <geometry>
        <cylinder length="0.01" radius="0.026"/>
      </geometry>
      <material name="black">
        <color rgba="0 0 0 1"/>
      </material>
    </visual>
    <inertial>
      <origin rpy="0 0 0" xyz="0 0 0"/>
      <mass value="0"/>
      <inertia ixx="0.0" ixy="0.0" ixz="0.0" iyy="0.0" iyz="0.0" izz="0.0"/>
    </inertial>
  </link> <!-- in pybullet, the inertia need to be specified even for dummy links, otherwise it will put an identity inertia and a mass of 1 by default -->
  <joint name="SA002__MoJo__INPUT_INTERFACE__COLLAR_JOINT" type="fixed">
    <parent link="SA002__MoJo__INPUT_INTERFACE"/>
    <child link="SA002__MoJo__INPUT_INTERFACE__COLLAR"/>
  </joint>
  <joint name="SA002__MoJo" type="revolute">
    <parent link="SA002__MoJo__INPUT_INTERFACE"/>
    <child link="SA002__MoJo__OUTPUT_BODY"/>
    <origin rpy="0 0 0" xyz="0 0 0.0366"/>
    <axis xyz="0 1 0"/>
    <dynamics damping=".1" friction="0.2"/>
    <limit effort="7.0" lower="-1.57" upper="1.57" velocity="2.208932"/>
  </joint>
  <transmission name="SA002__MoJo_trans">
    <type>transmission_interface/SimpleTransmission</type>
    <joint name="SA002__MoJo">
      <hardwareInterface>EffortJointInterface</hardwareInterface>
    </joint>
    <actuator name="SA002__MoJo_motor">
      <hardwareInterface>EffortJointInterface</hardwareInterface>
      <mechanicalReduction>300</mechanicalReduction>
    </actuator>
  </transmission>
  <link name="SA002__MoJo__OUTPUT_BODY">
    <visual>
      <origin rpy="1.57075 0 0" xyz="0 0 0"/>
      <geometry>
        <mesh filename="meshes/rotary_output.stl"/>
        <!-- <cylinder radius=".0025" length=".1" /> -->
      </geometry>
      <material name="red">
        <color rgba=".82 0.06 0.06 1"/>
      </material>
    </visual>
    <collision>
      <origin rpy="0 0 0" xyz="0 0 0.0183"/>
      <geometry>
        <cylinder length="0.033" radius="0.026"/>
      </geometry>
    </collision>
    <inertial>
      <origin rpy="0 0 0" xyz="0 0 0"/>
      <mass value="0.103"/>
      <inertia ixx="5.4796e-05" ixy="0" ixz="0" iyy="5.4796e-05" iyz="0" izz="3.4814e-05"/>
    </inertial>
  </link>
  <joint name="SA002__MoJo__OUTPUT_INTERFACE" type="fixed">
    <parent link="SA002__MoJo__OUTPUT_BODY"/>
    <child link="SA003__MoJo__INPUT_INTERFACE"/>
    <origin rpy="0 0 -1.57075" xyz="0 0 0.0273"/>
  </joint>
  <link name="SA003__MoJo__INPUT_INTERFACE">
    <visual>
      <origin rpy="1.57075 0 0" xyz="0 0 0.035"/>
      <geometry>
        <mesh filename="meshes/rotary_input.stl"/>
      </geometry>
      <material name="red">
        <color rgba=".82 0.06 0.06 1"/>
      </material>
    </visual>
    <collision>
      <origin rpy="0 0 0" xyz="0 0 0.0183"/>
      <geometry>
        <cylinder length="0.033" radius="0.026"/>
      </geometry>
    </collision>
    <inertial>
      <origin rpy="0 0 0" xyz="0 0 0.0366"/>
      <mass value="0.103"/>
      <inertia ixx="5.4796e-05" ixy="0" ixz="0" iyy="5.4796e-05" iyz="0" izz="3.4814e-05"/>
    </inertial>
  </link>
  <link name="SA003__MoJo__INPUT_INTERFACE__COLLAR">
    <visual>
      <origin rpy="0 0 0" xyz="0 0 0.005"/>
      <geometry>
        <cylinder length="0.01" radius="0.026"/>
      </geometry>
      <material name="black">
        <color rgba="0 0 0 1"/>
      </material>
    </visual>
    <inertial>
      <origin rpy="0 0 0" xyz="0 0 0"/>
      <mass value="0"/>
      <inertia ixx="0.0" ixy="0.0" ixz="0.0" iyy="0.0" iyz="0.0" izz="0.0"/>
    </inertial>
  </link> <!-- in pybullet, the inertia need to be specified even for dummy links, otherwise it will put an identity inertia and a mass of 1 by default -->
  <joint name="SA003__MoJo__INPUT_INTERFACE__COLLAR_JOINT" type="fixed">
    <parent link="SA003__MoJo__INPUT_INTERFACE"/>
    <child link="SA003__MoJo__INPUT_INTERFACE__COLLAR"/>
  </joint>
  <joint name="SA003__MoJo" type="revolute">
    <parent link="SA003__MoJo__INPUT_INTERFACE"/>
    <child link="SA003__MoJo__OUTPUT_BODY"/>
    <origin rpy="0 0 0" xyz="0 0 0.0366"/>
    <axis xyz="0 1 0"/>
    <dynamics damping=".1" friction="0.2"/>
    <limit effort="7.0" lower="-1.57" upper="1.57" velocity="2.208932"/>
  </joint>
  <transmission name="SA003__MoJo_trans">
    <type>transmission_interface/SimpleTransmission</type>
    <joint name="SA003__MoJo">
      <hardwareInterface>EffortJointInterface</hardwareInterface>
    </joint>
    <actuator name="SA003__MoJo_motor">
      <hardwareInterface>EffortJointInterface</hardwareInterface>
      <mechanicalReduction>300</mechanicalReduction>
    </actuator>
  </transmission>
  <link name="SA003__MoJo__OUTPUT_BODY">
    <visual>
      <origin rpy="1.57075 0 0" xyz="0 0 0"/>
      <geometry>
        <mesh filename="meshes/rotary_output.stl"/>
        <!-- <cylinder radius=".0025" length=".1" /> -->
      </geometry>
      <material name="red">
        <color rgba=".82 0.06 0.06 1"/>
      </material>
    </visual>
    <collision>
      <origin rpy="0 0 0" xyz="0 0 0.0183"/>
      <geometry>
        <cylinder length="0.033" radius="0.026"/>
      </geometry>
    </collision>
    <inertial>
      <origin rpy="0 0 0" xyz="0 0 0"/>
      <mass value="0.103"/>
      <inertia ixx="5.4796e-05" ixy="0" ixz="0" iyy="5.4796e-05" iyz="0" izz="3.4814e-05"/>
    </inertial>
  </link>
  <joint name="SA003__MoJo__OUTPUT_INTERFACE" type="fixed">
    <parent link="SA003__MoJo__OUTPUT_BODY"/>
    <child link="extender__leg5__INPUT_INTERFACE"/>
    <origin rpy="0 0 -1.57075" xyz="0 0 0.0273"/>
  </joint>
  <link name="extender__leg5__INPUT_INTERFACE">
    <visual>
      <origin rpy="0 0 0" xyz="0 0 0.025"/>
      <geometry>
        <cylinder length="0.05" radius=".0254"/>
      </geometry>
      <material name="silver">
        <color rgba="0.6 0.6 0.6 1"/>
      </material>
    </visual>
    <collision>
      <origin rpy="0 0 0" xyz="0 0 0.025"/>
      <geometry>
        <cylinder length="0.05" radius=".0254"/>
      </geometry>
    </collision>
    <inertial>
      <origin rpy="0 0 0" xyz="0 0 0.025"/>
      <mass value=".05"/>
      <inertia ixx="2.50134116667e-05" ixy="0" ixz="0" iyy="2.50134116667e-05" iyz="0" izz="2.919349e-05"/>
    </inertial>
  </link>
  <joint name="extender__leg5__OUTPUT_INTERFACE" type="fixed">
    <parent link="extender__leg5__INPUT_INTERFACE"/>
    <child link="SA048__MoJo__INPUT_INTERFACE"/>
    <origin rpy="0 0 1.57079632679" xyz="0 0 0.05"/>
  </joint>
  <link name="extender__leg5__INPUT_INTERFACE__COLLAR">
    <visual>
      <origin rpy="0 0 0" xyz="0 0 0.005"/>
      <geometry>
        <cylinder length="0.01" radius="0.026"/>
      </geometry>
      <material name="black">
        <color rgba="0 0 0 1"/>
      </material>
    </visual>
    <inertial>
      <origin rpy="0 0 0" xyz="0 0 0"/>
      <mass value="0"/>
      <inertia ixx="0.0" ixy="0.0" ixz="0.0" iyy="0.0" iyz="0.0" izz="0.0"/>
    </inertial>
  </link> <!-- in pybullet, the inertia need to be specified even for dummy links, otherwise it will put an identity inertia and a mass of 1 by default -->
  <joint name="extender__leg5__INPUT_INTERFACE__COLLAR_JOINT" type="fixed">
    <parent link="extender__leg5__INPUT_INTERFACE"/>
    <child link="extender__leg5__INPUT_INTERFACE__COLLAR"/>
  </joint>
  <link name="SA048__MoJo__INPUT_INTERFACE">
    <visual>
      <origin rpy="1.57075 0 0" xyz="0 0 0.035"/>
      <geometry>
        <mesh filename="meshes/rotary_input.stl"/>
      </geometry>
      <material name="red">
        <color rgba=".82 0.06 0.06 1"/>
      </material>
    </visual>
    <collision>
      <origin rpy="0 0 0" xyz="0 0 0.0183"/>
      <geometry>
        <cylinder length="0.033" radius="0.026"/>
      </geometry>
    </collision>
    <inertial>
      <origin rpy="0 0 0" xyz="0 0 0.0366"/>
      <mass value="0.103"/>
      <inertia ixx="5.4796e-05" ixy="0" ixz="0" iyy="5.4796e-05" iyz="0" izz="3.4814e-05"/>
    </inertial>
  </link>
  <link name="SA048__MoJo__INPUT_INTERFACE__COLLAR">
    <visual>
      <origin rpy="0 0 0" xyz="0 0 0.005"/>
      <geometry>
        <cylinder length="0.01" radius="0.026"/>
      </geometry>
      <material name="black">
        <color rgba="0 0 0 1"/>
      </material>
    </visual>
    <inertial>
      <origin rpy="0 0 0" xyz="0 0 0"/>
      <mass value="0"/>
      <inertia ixx="0.0" ixy="0.0" ixz="0.0" iyy="0.0" iyz="0.0" izz="0.0"/>
    </inertial>
  </link> <!-- in pybullet, the inertia need to be specified even for dummy links, otherwise it will put an identity inertia and a mass of 1 by default -->
  <joint name="SA048__MoJo__INPUT_INTERFACE__COLLAR_JOINT" type="fixed">
    <parent link="SA048__MoJo__INPUT_INTERFACE"/>
    <child link="SA048__MoJo__INPUT_INTERFACE__COLLAR"/>
  </joint>
  <joint name="SA048__MoJo" type="revolute">
    <parent link="SA048__MoJo__INPUT_INTERFACE"/>
    <child link="SA048__MoJo__OUTPUT_BODY"/>
    <origin rpy="0 0 0" xyz="0 0 0.0366"/>
    <axis xyz="0 1 0"/>
    <dynamics damping=".1" friction="0.2"/>
    <limit effort="7.0" lower="-1.57" upper="1.57" velocity="2.208932"/>
  </joint>
  <transmission name="SA048__MoJo_trans">
    <type>transmission_interface/SimpleTransmission</type>
    <joint name="SA048__MoJo">
      <hardwareInterface>EffortJointInterface</hardwareInterface>
    </joint>
    <actuator name="SA048__MoJo_motor">
      <hardwareInterface>EffortJointInterface</hardwareInterface>
      <mechanicalReduction>300</mechanicalReduction>
    </actuator>
  </transmission>
  <link name="SA048__MoJo__OUTPUT_BODY">
    <visual>
      <origin rpy="1.57075 0 0" xyz="0 0 0"/>
      <geometry>
        <mesh filename="meshes/rotary_output.stl"/>
        <!-- <cylinder radius=".0025" length=".1" /> -->
      </geometry>
      <material name="red">
        <color rgba=".82 0.06 0.06 1"/>
      </material>
    </visual>
    <collision>
      <origin rpy="0 0 0" xyz="0 0 0.0183"/>
      <geometry>
        <cylinder length="0.033" radius="0.026"/>
      </geometry>
    </collision>
    <inertial>
      <origin rpy="0 0 0" xyz="0 0 0"/>
      <mass value="0.103"/>
      <inertia ixx="5.4796e-05" ixy="0" ixz="0" iyy="5.4796e-05" iyz="0" izz="3.4814e-05"/>
    </inertial>
  </link>
  <joint name="SA048__MoJo__OUTPUT_INTERFACE" type="fixed">
    <parent link="SA048__MoJo__OUTPUT_BODY"/>
    <child link="elbow__leg5__INPUT_INTERFACE"/>
    <origin rpy="0 0 -1.57075" xyz="0 0 0.0273"/>
  </joint>
  <link name="elbow__leg5__INPUT_INTERFACE">
    <visual>
      <origin rpy="0 0 0" xyz="0 0 0.00955"/>
      <geometry>
        <cylinder length="0.0191" radius=".0254"/>
      </geometry>
      <material name="silver">
        <color rgba="0.6 0.6 0.6 1"/>
      </material>
    </visual>
    <visual>
      <origin rpy="1.57075 0 3.14159265359" xyz="0.0274 -0.0782 0.0121"/>
      <geometry>
        <mesh filename="meshes/elbow_corner.stl"/>
      </geometry>
      <material name="silver">
        <color rgba="0.6 0.6 0.6 1"/>
      </material>
    </visual>
    <collision>
      <origin rpy="0 0 0" xyz="0 0 0.00955"/>
      <geometry>
        <cylinder length="0.0191" radius=".0254"/>
      </geometry>
    </collision>
    <collision>
      <origin rpy="0 0 0" xyz="0 -0.01 0.0311"/>
      <geometry>
        <sphere radius="0.0191"/>
      </geometry>
    </collision>
    <inertial>
      <origin rpy="0 0 0" xyz="0 0 0.0391"/>
      <mass value=".045"/>
      <inertia ixx="8.6260875e-06" ixy="0" ixz="0" iyy="8.6260875e-06" iyz="0" izz="1.45161e-05"/>
    </inertial>
  </link>
  <link name="elbow__leg5__INPUT_INTERFACE__COLLAR">
    <visual>
      <origin rpy="0 0 0" xyz="0 0 0.005"/>
      <geometry>
        <cylinder length="0.01" radius="0.026"/>
      </geometry>
      <material name="black">
        <color rgba="0 0 0 1"/>
      </material>
    </visual>
    <inertial>
      <origin rpy="0 0 0" xyz="0 0 0"/>
      <mass value="0"/>
      <inertia ixx="0.0" ixy="0.0" ixz="0.0" iyy="0.0" iyz="0.0" izz="0.0"/>
    </inertial>
  </link> <!-- in pybullet, the inertia need to be specified even for dummy links, otherwise it will put an identity inertia and a mass of 1 by default -->
  <joint name="elbow__leg5__INPUT_INTERFACE__COLLAR_JOINT" type="fixed">
    <parent link="elbow__leg5__INPUT_INTERFACE"/>
    <child link="elbow__leg5__INPUT_INTERFACE__COLLAR"/>
  </joint>
  <joint name="elbow__leg5__MID_ELBOW_JOINT" type="fixed">
    <parent link="elbow__leg5__INPUT_INTERFACE"/>
    <child link="elbow__leg5__AFTER_CORNER_BODY"/>
    <origin rpy="-1.57079632679 0 3.14159265359" xyz="0 0 0.0445"/>
  </joint>
  <link name="elbow__leg5__AFTER_CORNER_BODY">
    <visual>
      <origin rpy="0 0 0" xyz="0 0 0.0857"/>
      <geometry>
        <cylinder length="0.1206" radius=".0254"/>
      </geometry>
      <material name="silver">
        <color rgba="0.6 0.6 0.6 1"/>
      </material>
    </visual>
    <collision>
      <origin rpy="0 0 0" xyz="0 0 0.0857"/>
      <geometry>
        <cylinder length="0.1206" radius=".0254"/>
      </geometry>
    </collision>
    <inertial>
      <origin rpy="0 0 0" xyz="0 0 0.0857"/>
      <mass value=".065"/>
      <inertia ixx="1.24599041667e-05" ixy="0" ixz="0" iyy="1.24599041667e-05" iyz="0" izz="2.09677e-05"/>
    </inertial>
  </link>
  <joint name="elbow__leg5__OUTPUT_INTERFACE" type="fixed">
    <parent link="elbow__leg5__AFTER_CORNER_BODY"/>
    <child link="foot__leg5__INPUT_INTERFACE"/>
    <origin rpy="0 0 -1.57079632679" xyz="0 0 0.146"/>
  </joint>
  <!--TODO: check dimensions -->
  <link name="foot__leg5__INPUT_INTERFACE">
    <visual>
      <origin rpy="0 0 0" xyz="0 0 0"/>
      <geometry>
        <sphere radius=".0254"/>
      </geometry>
      <material name="black">
        <color rgba="0 0 0 1"/>
      </material>
    </visual>
    <collision>
      <origin rpy="0 0 0" xyz="0 0 0"/>
      <geometry>
        <sphere radius=".0254"/>
      </geometry>
    </collision>
    <inertial>
      <origin rpy="0 0 0" xyz="0 0 0"/>
      <mass value="0"/>
      <inertia ixx="0.0" ixy="0.0" ixz="0.0" iyy="0.0" iyz="0.0" izz="0.0"/>
    </inertial>
  </link> <!-- in pybullet, the inertia need to be specified even for dummy links, otherwise it will put an identity inertia and a mass of 1 by default -->
  <link name="SA043__MoJo__INPUT_INTERFACE">
    <visual>
      <origin rpy="1.57075 0 0" xyz="0 0 0.035"/>
      <geometry>
        <mesh filename="meshes/rotary_input.stl"/>
      </geometry>
      <material name="red">
        <color rgba=".82 0.06 0.06 1"/>
      </material>
    </visual>
    <collision>
      <origin rpy="0 0 0" xyz="0 0 0.0183"/>
      <geometry>
        <cylinder length="0.033" radius="0.026"/>
      </geometry>
    </collision>
    <inertial>
      <origin rpy="0 0 0" xyz="0 0 0.0366"/>
      <mass value="0.103"/>
      <inertia ixx="5.4796e-05" ixy="0" ixz="0" iyy="5.4796e-05" iyz="0" izz="3.4814e-05"/>
    </inertial>
  </link>
  <link name="SA043__MoJo__INPUT_INTERFACE__COLLAR">
    <visual>
      <origin rpy="0 0 0" xyz="0 0 0.005"/>
      <geometry>
        <cylinder length="0.01" radius="0.026"/>
      </geometry>
      <material name="black">
        <color rgba="0 0 0 1"/>
      </material>
    </visual>
    <inertial>
      <origin rpy="0 0 0" xyz="0 0 0"/>
      <mass value="0"/>
      <inertia ixx="0.0" ixy="0.0" ixz="0.0" iyy="0.0" iyz="0.0" izz="0.0"/>
    </inertial>
  </link> <!-- in pybullet, the inertia need to be specified even for dummy links, otherwise it will put an identity inertia and a mass of 1 by default -->
  <joint name="SA043__MoJo__INPUT_INTERFACE__COLLAR_JOINT" type="fixed">
    <parent link="SA043__MoJo__INPUT_INTERFACE"/>
    <child link="SA043__MoJo__INPUT_INTERFACE__COLLAR"/>
  </joint>
  <joint name="SA043__MoJo" type="revolute">
    <parent link="SA043__MoJo__INPUT_INTERFACE"/>
    <child link="SA043__MoJo__OUTPUT_BODY"/>
    <origin rpy="0 0 0" xyz="0 0 0.0366"/>
    <axis xyz="0 1 0"/>
    <dynamics damping=".1" friction="0.2"/>
    <limit effort="7.0" lower="-1.57" upper="1.57" velocity="2.208932"/>
  </joint>
  <transmission name="SA043__MoJo_trans">
    <type>transmission_interface/SimpleTransmission</type>
    <joint name="SA043__MoJo">
      <hardwareInterface>EffortJointInterface</hardwareInterface>
    </joint>
    <actuator name="SA043__MoJo_motor">
      <hardwareInterface>EffortJointInterface</hardwareInterface>
      <mechanicalReduction>300</mechanicalReduction>
    </actuator>
  </transmission>
  <link name="SA043__MoJo__OUTPUT_BODY">
    <visual>
      <origin rpy="1.57075 0 0" xyz="0 0 0"/>
      <geometry>
        <mesh filename="meshes/rotary_output.stl"/>
        <!-- <cylinder radius=".0025" length=".1" /> -->
      </geometry>
      <material name="red">
        <color rgba=".82 0.06 0.06 1"/>
      </material>
    </visual>
    <collision>
      <origin rpy="0 0 0" xyz="0 0 0.0183"/>
      <geometry>
        <cylinder length="0.033" radius="0.026"/>
      </geometry>
    </collision>
    <inertial>
      <origin rpy="0 0 0" xyz="0 0 0"/>
      <mass value="0.103"/>
      <inertia ixx="5.4796e-05" ixy="0" ixz="0" iyy="5.4796e-05" iyz="0" izz="3.4814e-05"/>
    </inertial>
  </link>
  <joint name="SA043__MoJo__OUTPUT_INTERFACE" type="fixed">
    <parent link="SA043__MoJo__OUTPUT_BODY"/>
    <child link="SA005__MoJo__INPUT_INTERFACE"/>
    <origin rpy="0 0 -1.57075" xyz="0 0 0.0273"/>
  </joint>
  <link name="SA005__MoJo__INPUT_INTERFACE">
    <visual>
      <origin rpy="1.57075 0 0" xyz="0 0 0.035"/>
      <geometry>
        <mesh filename="meshes/rotary_input.stl"/>
      </geometry>
      <material name="red">
        <color rgba=".82 0.06 0.06 1"/>
      </material>
    </visual>
    <collision>
      <origin rpy="0 0 0" xyz="0 0 0.0183"/>
      <geometry>
        <cylinder length="0.033" radius="0.026"/>
      </geometry>
    </collision>
    <inertial>
      <origin rpy="0 0 0" xyz="0 0 0.0366"/>
      <mass value="0.103"/>
      <inertia ixx="5.4796e-05" ixy="0" ixz="0" iyy="5.4796e-05" iyz="0" izz="3.4814e-05"/>
    </inertial>
  </link>
  <link name="SA005__MoJo__INPUT_INTERFACE__COLLAR">
    <visual>
      <origin rpy="0 0 0" xyz="0 0 0.005"/>
      <geometry>
        <cylinder length="0.01" radius="0.026"/>
      </geometry>
      <material name="black">
        <color rgba="0 0 0 1"/>
      </material>
    </visual>
    <inertial>
      <origin rpy="0 0 0" xyz="0 0 0"/>
      <mass value="0"/>
      <inertia ixx="0.0" ixy="0.0" ixz="0.0" iyy="0.0" iyz="0.0" izz="0.0"/>
    </inertial>
  </link> <!-- in pybullet, the inertia need to be specified even for dummy links, otherwise it will put an identity inertia and a mass of 1 by default -->
  <joint name="SA005__MoJo__INPUT_INTERFACE__COLLAR_JOINT" type="fixed">
    <parent link="SA005__MoJo__INPUT_INTERFACE"/>
    <child link="SA005__MoJo__INPUT_INTERFACE__COLLAR"/>
  </joint>
  <joint name="SA005__MoJo" type="revolute">
    <parent link="SA005__MoJo__INPUT_INTERFACE"/>
    <child link="SA005__MoJo__OUTPUT_BODY"/>
    <origin rpy="0 0 0" xyz="0 0 0.0366"/>
    <axis xyz="0 1 0"/>
    <dynamics damping=".1" friction="0.2"/>
    <limit effort="7.0" lower="-1.57" upper="1.57" velocity="2.208932"/>
  </joint>
  <transmission name="SA005__MoJo_trans">
    <type>transmission_interface/SimpleTransmission</type>
    <joint name="SA005__MoJo">
      <hardwareInterface>EffortJointInterface</hardwareInterface>
    </joint>
    <actuator name="SA005__MoJo_motor">
      <hardwareInterface>EffortJointInterface</hardwareInterface>
      <mechanicalReduction>300</mechanicalReduction>
    </actuator>
  </transmission>
  <link name="SA005__MoJo__OUTPUT_BODY">
    <visual>
      <origin rpy="1.57075 0 0" xyz="0 0 0"/>
      <geometry>
        <mesh filename="meshes/rotary_output.stl"/>
        <!-- <cylinder radius=".0025" length=".1" /> -->
      </geometry>
      <material name="red">
        <color rgba=".82 0.06 0.06 1"/>
      </material>
    </visual>
    <collision>
      <origin rpy="0 0 0" xyz="0 0 0.0183"/>
      <geometry>
        <cylinder length="0.033" radius="0.026"/>
      </geometry>
    </collision>
    <inertial>
      <origin rpy="0 0 0" xyz="0 0 0"/>
      <mass value="0.103"/>
      <inertia ixx="5.4796e-05" ixy="0" ixz="0" iyy="5.4796e-05" iyz="0" izz="3.4814e-05"/>
    </inertial>
  </link>
  <joint name="SA005__MoJo__OUTPUT_INTERFACE" type="fixed">
    <parent link="SA005__MoJo__OUTPUT_BODY"/>
    <child link="extender__leg6__INPUT_INTERFACE"/>
    <origin rpy="0 0 -1.57075" xyz="0 0 0.0273"/>
  </joint>
  <link name="extender__leg6__INPUT_INTERFACE">
    <visual>
      <origin rpy="0 0 0" xyz="0 0 0.025"/>
      <geometry>
        <cylinder length="0.05" radius=".0254"/>
      </geometry>
      <material name="silver">
        <color rgba="0.6 0.6 0.6 1"/>
      </material>
    </visual>
    <collision>
      <origin rpy="0 0 0" xyz="0 0 0.025"/>
      <geometry>
        <cylinder length="0.05" radius=".0254"/>
      </geometry>
    </collision>
    <inertial>
      <origin rpy="0 0 0" xyz="0 0 0.025"/>
      <mass value=".05"/>
      <inertia ixx="2.50134116667e-05" ixy="0" ixz="0" iyy="2.50134116667e-05" iyz="0" izz="2.919349e-05"/>
    </inertial>
  </link>
  <joint name="extender__leg6__OUTPUT_INTERFACE" type="fixed">
    <parent link="extender__leg6__INPUT_INTERFACE"/>
    <child link="SA001__MoJo__INPUT_INTERFACE"/>
    <origin rpy="0 0 1.57079632679" xyz="0 0 0.05"/>
  </joint>
  <link name="extender__leg6__INPUT_INTERFACE__COLLAR">
    <visual>
      <origin rpy="0 0 0" xyz="0 0 0.005"/>
      <geometry>
        <cylinder length="0.01" radius="0.026"/>
      </geometry>
      <material name="black">
        <color rgba="0 0 0 1"/>
      </material>
    </visual>
    <inertial>
      <origin rpy="0 0 0" xyz="0 0 0"/>
      <mass value="0"/>
      <inertia ixx="0.0" ixy="0.0" ixz="0.0" iyy="0.0" iyz="0.0" izz="0.0"/>
    </inertial>
  </link> <!-- in pybullet, the inertia need to be specified even for dummy links, otherwise it will put an identity inertia and a mass of 1 by default -->
  <joint name="extender__leg6__INPUT_INTERFACE__COLLAR_JOINT" type="fixed">
    <parent link="extender__leg6__INPUT_INTERFACE"/>
    <child link="extender__leg6__INPUT_INTERFACE__COLLAR"/>
  </joint>
  <link name="SA001__MoJo__INPUT_INTERFACE">
    <visual>
      <origin rpy="1.57075 0 0" xyz="0 0 0.035"/>
      <geometry>
        <mesh filename="meshes/rotary_input.stl"/>
      </geometry>
      <material name="red">
        <color rgba=".82 0.06 0.06 1"/>
      </material>
    </visual>
    <collision>
      <origin rpy="0 0 0" xyz="0 0 0.0183"/>
      <geometry>
        <cylinder length="0.033" radius="0.026"/>
      </geometry>
    </collision>
    <inertial>
      <origin rpy="0 0 0" xyz="0 0 0.0366"/>
      <mass value="0.103"/>
      <inertia ixx="5.4796e-05" ixy="0" ixz="0" iyy="5.4796e-05" iyz="0" izz="3.4814e-05"/>
    </inertial>
  </link>
  <link name="SA001__MoJo__INPUT_INTERFACE__COLLAR">
    <visual>
      <origin rpy="0 0 0" xyz="0 0 0.005"/>
      <geometry>
        <cylinder length="0.01" radius="0.026"/>
      </geometry>
      <material name="black">
        <color rgba="0 0 0 1"/>
      </material>
    </visual>
    <inertial>
      <origin rpy="0 0 0" xyz="0 0 0"/>
      <mass value="0"/>
      <inertia ixx="0.0" ixy="0.0" ixz="0.0" iyy="0.0" iyz="0.0" izz="0.0"/>
    </inertial>
  </link> <!-- in pybullet, the inertia need to be specified even for dummy links, otherwise it will put an identity inertia and a mass of 1 by default -->
  <joint name="SA001__MoJo__INPUT_INTERFACE__COLLAR_JOINT" type="fixed">
    <parent link="SA001__MoJo__INPUT_INTERFACE"/>
    <child link="SA001__MoJo__INPUT_INTERFACE__COLLAR"/>
  </joint>
  <joint name="SA001__MoJo" type="revolute">
    <parent link="SA001__MoJo__INPUT_INTERFACE"/>
    <child link="SA001__MoJo__OUTPUT_BODY"/>
    <origin rpy="0 0 0" xyz="0 0 0.0366"/>
    <axis xyz="0 1 0"/>
    <dynamics damping=".1" friction="0.2"/>
    <limit effort="7.0" lower="-1.57" upper="1.57" velocity="2.208932"/>
  </joint>
  <transmission name="SA001__MoJo_trans">
    <type>transmission_interface/SimpleTransmission</type>
    <joint name="SA001__MoJo">
      <hardwareInterface>EffortJointInterface</hardwareInterface>
    </joint>
    <actuator name="SA001__MoJo_motor">
      <hardwareInterface>EffortJointInterface</hardwareInterface>
      <mechanicalReduction>300</mechanicalReduction>
    </actuator>
  </transmission>
  <link name="SA001__MoJo__OUTPUT_BODY">
    <visual>
      <origin rpy="1.57075 0 0" xyz="0 0 0"/>
      <geometry>
        <mesh filename="meshes/rotary_output.stl"/>
        <!-- <cylinder radius=".0025" length=".1" /> -->
      </geometry>
      <material name="red">
        <color rgba=".82 0.06 0.06 1"/>
      </material>
    </visual>
    <collision>
      <origin rpy="0 0 0" xyz="0 0 0.0183"/>
      <geometry>
        <cylinder length="0.033" radius="0.026"/>
      </geometry>
    </collision>
    <inertial>
      <origin rpy="0 0 0" xyz="0 0 0"/>
      <mass value="0.103"/>
      <inertia ixx="5.4796e-05" ixy="0" ixz="0" iyy="5.4796e-05" iyz="0" izz="3.4814e-05"/>
    </inertial>
  </link>
  <joint name="SA001__MoJo__OUTPUT_INTERFACE" type="fixed">
    <parent link="SA001__MoJo__OUTPUT_BODY"/>
    <child link="elbow__leg6__INPUT_INTERFACE"/>
    <origin rpy="0 0 -1.57075" xyz="0 0 0.0273"/>
  </joint>
  <link name="elbow__leg6__INPUT_INTERFACE">
    <visual>
      <origin rpy="0 0 0" xyz="0 0 0.00955"/>
      <geometry>
        <cylinder length="0.0191" radius=".0254"/>
      </geometry>
      <material name="silver">
        <color rgba="0.6 0.6 0.6 1"/>
      </material>
    </visual>
    <visual>
      <origin rpy="1.57075 0 3.14159265359" xyz="0.0274 -0.0782 0.0121"/>
      <geometry>
        <mesh filename="meshes/elbow_corner.stl"/>
      </geometry>
      <material name="silver">
        <color rgba="0.6 0.6 0.6 1"/>
      </material>
    </visual>
    <collision>
      <origin rpy="0 0 0" xyz="0 0 0.00955"/>
      <geometry>
        <cylinder length="0.0191" radius=".0254"/>
      </geometry>
    </collision>
    <collision>
      <origin rpy="0 0 0" xyz="0 -0.01 0.0311"/>
      <geometry>
        <sphere radius="0.0191"/>
      </geometry>
    </collision>
    <inertial>
      <origin rpy="0 0 0" xyz="0 0 0.0391"/>
      <mass value=".045"/>
      <inertia ixx="8.6260875e-06" ixy="0" ixz="0" iyy="8.6260875e-06" iyz="0" izz="1.45161e-05"/>
    </inertial>
  </link>
  <link name="elbow__leg6__INPUT_INTERFACE__COLLAR">
    <visual>
      <origin rpy="0 0 0" xyz="0 0 0.005"/>
      <geometry>
        <cylinder length="0.01" radius="0.026"/>
      </geometry>
      <material name="black">
        <color rgba="0 0 0 1"/>
      </material>
    </visual>
    <inertial>
      <origin rpy="0 0 0" xyz="0 0 0"/>
      <mass value="0"/>
      <inertia ixx="0.0" ixy="0.0" ixz="0.0" iyy="0.0" iyz="0.0" izz="0.0"/>
    </inertial>
  </link> <!-- in pybullet, the inertia need to be specified even for dummy links, otherwise it will put an identity inertia and a mass of 1 by default -->
  <joint name="elbow__leg6__INPUT_INTERFACE__COLLAR_JOINT" type="fixed">
    <parent link="elbow__leg6__INPUT_INTERFACE"/>
    <child link="elbow__leg6__INPUT_INTERFACE__COLLAR"/>
  </joint>
  <joint name="elbow__leg6__MID_ELBOW_JOINT" type="fixed">
    <parent link="elbow__leg6__INPUT_INTERFACE"/>
    <child link="elbow__leg6__AFTER_CORNER_BODY"/>
    <origin rpy="-1.57079632679 0 3.14159265359" xyz="0 0 0.0445"/>
  </joint>
  <link name="elbow__leg6__AFTER_CORNER_BODY">
    <visual>
      <origin rpy="0 0 0" xyz="0 0 0.0857"/>
      <geometry>
        <cylinder length="0.1206" radius=".0254"/>
      </geometry>
      <material name="silver">
        <color rgba="0.6 0.6 0.6 1"/>
      </material>
    </visual>
    <collision>
      <origin rpy="0 0 0" xyz="0 0 0.0857"/>
      <geometry>
        <cylinder length="0.1206" radius=".0254"/>
      </geometry>
    </collision>
    <inertial>
      <origin rpy="0 0 0" xyz="0 0 0.0857"/>
      <mass value=".065"/>
      <inertia ixx="1.24599041667e-05" ixy="0" ixz="0" iyy="1.24599041667e-05" iyz="0" izz="2.09677e-05"/>
    </inertial>
  </link>
  <joint name="elbow__leg6__OUTPUT_INTERFACE" type="fixed">
    <parent link="elbow__leg6__AFTER_CORNER_BODY"/>
    <child link="foot__leg6__INPUT_INTERFACE"/>
    <origin rpy="0 0 -1.57079632679" xyz="0 0 0.146"/>
  </joint>
  <!--TODO: check dimensions -->
  <link name="foot__leg6__INPUT_INTERFACE">
    <visual>
      <origin rpy="0 0 0" xyz="0 0 0"/>
      <geometry>
        <sphere radius=".0254"/>
      </geometry>
      <material name="black">
        <color rgba="0 0 0 1"/>
      </material>
    </visual>
    <collision>
      <origin rpy="0 0 0" xyz="0 0 0"/>
      <geometry>
        <sphere radius=".0254"/>
      </geometry>
    </collision>
    <inertial>
      <origin rpy="0 0 0" xyz="0 0 0"/>
      <mass value="0"/>
      <inertia ixx="0.0" ixy="0.0" ixz="0.0" iyy="0.0" iyz="0.0" izz="0.0"/>
    </inertial>
  </link> <!-- in pybullet, the inertia need to be specified even for dummy links, otherwise it will put an identity inertia and a mass of 1 by default -->
</robot>
